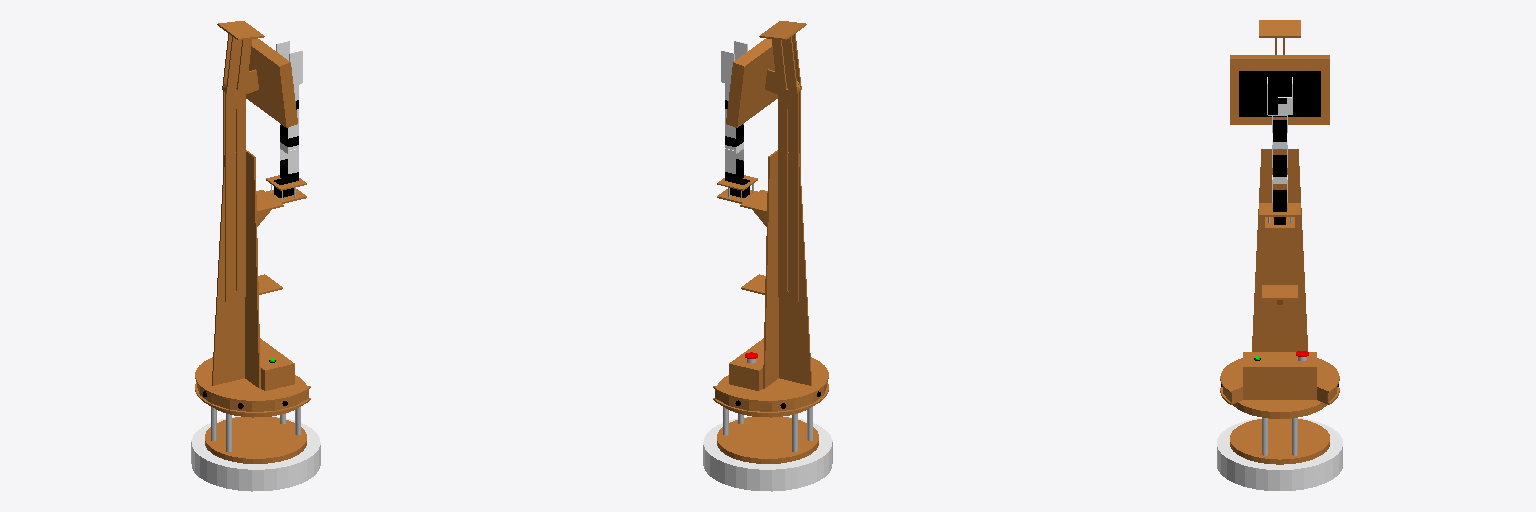
--- What the picture shows (computed from the rendered views, not written in the file) ---
Views: 3 orthographic renders of the robot side by side, from view 1: azimuth 30°, elevation 25°; view 2: azimuth 150°, elevation 25°; view 3: azimuth 270°, elevation 25°.
Robot: MYRAbot — 78 links, 77 joints (5 revolute, 2 continuous, 70 fixed); root link base_footprint; default pose: all joints at 0.
Visible links, largest first — view 1: e_pilar_link, base_link, e_soporte_1_link, e_base_1_link, e_ultrasonidos_link, e_monitor_link, e_soporte_3_link, e_botonera_link, e_base_brazo_1_link; view 2: e_pilar_link, base_link, e_soporte_1_link, e_base_1_link, e_ultrasonidos_link, e_monitor_link, e_soporte_3_link, e_botonera_link, e_base_brazo_1_link; view 3: e_pilar_link, base_link, e_botonera_link, e_base_1_link, e_pantalla_link, e_monitor_link, e_ultrasonidos_link, e_base_2_link, e_soporte_3_link, e_base_kinect_link.
Boxes of the visible links, x1=… form: e_pilar_link: x1=212, y1=150, x2=260, y2=388; base_link: x1=191, y1=416, x2=320, y2=491; e_soporte_1_link: x1=223, y1=78, x2=245, y2=301; e_base_1_link: x1=205, y1=417, x2=306, y2=463; e_ultrasonidos_link: x1=195, y1=357, x2=310, y2=414; e_monitor_link: x1=246, y1=38, x2=297, y2=127; e_soporte_3_link: x1=217, y1=21, x2=264, y2=99; e_botonera_link: x1=260, y1=338, x2=294, y2=390; e_base_brazo_1_link: x1=256, y1=189, x2=306, y2=226; e_pilar_link: x1=763, y1=150, x2=811, y2=388; base_link: x1=703, y1=416, x2=832, y2=491; e_soporte_1_link: x1=778, y1=78, x2=800, y2=301; e_base_1_link: x1=717, y1=417, x2=818, y2=463; e_ultrasonidos_link: x1=713, y1=357, x2=828, y2=414; e_monitor_link: x1=726, y1=38, x2=777, y2=127; e_soporte_3_link: x1=759, y1=21, x2=806, y2=99; e_botonera_link: x1=729, y1=338, x2=763, y2=390; e_base_brazo_1_link: x1=717, y1=189, x2=767, y2=226; e_pilar_link: x1=1252, y1=149, x2=1307, y2=351; base_link: x1=1217, y1=418, x2=1342, y2=490; e_botonera_link: x1=1243, y1=352, x2=1316, y2=399; e_base_1_link: x1=1230, y1=418, x2=1329, y2=464; e_pantalla_link: x1=1239, y1=71, x2=1320, y2=116; e_monitor_link: x1=1230, y1=55, x2=1329, y2=124; e_ultrasonidos_link: x1=1220, y1=358, x2=1339, y2=404; e_base_2_link: x1=1232, y1=400, x2=1327, y2=418; e_soporte_3_link: x1=1259, y1=20, x2=1300, y2=54; e_base_kinect_link: x1=1262, y1=285, x2=1297, y2=304.
Bounding box of the posed robot: 0.34 × 0.34 × 1.29 m (x, y, z).
Meshes: 11 distinct files referenced, 9 mesh visuals loaded (9 binary STL); not drawn: 2 (reference not matched to a file when rendering).

The robot description file, URDF, robot "MYRAbot":
<?xml version="1.0" ?>
<!-- =================================================================================== -->
<!-- |    This document was autogenerated by xacro from myrabot.urdf.xacro             | -->
<!-- |    EDITING THIS FILE BY HAND IS NOT RECOMMENDED                                 | -->
<!-- =================================================================================== -->
<robot name="MYRAbot" xmlns:body="http://playerstage.sourceforge.net/gazebo/xmlschema/#body" xmlns:controller="http://playerstage.sourceforge.net/gazebo/xmlschema/#controller" xmlns:gazebo="http://playerstage.sourceforge.net/gazebo/xmlschema/#gz" xmlns:geom="http://playerstage.sourceforge.net/gazebo/xmlschema/#geom" xmlns:interface="http://playerstage.sourceforge.net/gazebo/xmlschema/#interface" xmlns:joint="http://playerstage.sourceforge.net/gazebo/xmlschema/#joint" xmlns:model="http://playerstage.sourceforge.net/gazebo/xmlschema/#model" xmlns:physics="http://playerstage.sourceforge.net/gazebo/xmlschema/#physics" xmlns:renderable="http://playerstage.sourceforge.net/gazebo/xmlschema/#renderable" xmlns:rendering="http://playerstage.sourceforge.net/gazebo/xmlschema/#rendering" xmlns:sensor="http://playerstage.sourceforge.net/gazebo/xmlschema/#sensor" xmlns:xacro="http://ros.org/wiki/xacro" xmlns:xi="http://www.w3.org/2001/XInclude">
  <!-- Propiedades estructura -->
  <!-- Propiedades estructura -->
  <!-- 3.14 para cambiar orientacion camara -->
  <!-- 0.0 para colocar perpendicular a soporte -->
  <!-- 0.0 para colocar en el centro del soporte -->
  <gazebo>
    <plugin filename="libgazebo_ros_control.so" name="gazebo_ros_control">
      <robotNamespace>/brazo</robotNamespace>
    </plugin>
  </gazebo>
  <transmission name="base_trans">
    <type>transmission_interface/SimpleTransmission</type>
    <joint name="base"/>
    <actuator name="base_motor">
      <hardwareInterface>PositionJointInterface</hardwareInterface>
      <mechanicalReduction>1</mechanicalReduction>
    </actuator>
  </transmission>
  <transmission name="arti1_trans">
    <type>transmission_interface/SimpleTransmission</type>
    <joint name="arti1"/>
    <actuator name="arti1_motor">
      <hardwareInterface>PositionJointInterface</hardwareInterface>
      <mechanicalReduction>1</mechanicalReduction>
    </actuator>
  </transmission>
  <transmission name="arti2_trans">
    <type>transmission_interface/SimpleTransmission</type>
    <joint name="arti2"/>
    <actuator name="arti3_motor">
      <hardwareInterface>PositionJointInterface</hardwareInterface>
      <mechanicalReduction>1</mechanicalReduction>
    </actuator>
  </transmission>
  <transmission name="arti3_trans">
    <type>transmission_interface/SimpleTransmission</type>
    <joint name="arti3"/>
    <actuator name="arti3_motor">
      <hardwareInterface>PositionJointInterface</hardwareInterface>
      <mechanicalReduction>1</mechanicalReduction>
    </actuator>
  </transmission>
  <transmission name="pinza_trans">
    <type>transmission_interface/SimpleTransmission</type>
    <joint name="pinza"/>
    <actuator name="pinza_motor">
      <hardwareInterface>PositionJointInterface</hardwareInterface>
      <mechanicalReduction>1</mechanicalReduction>
    </actuator>
  </transmission>
  <!--xacro:include filename="$(find myrabot_robot_model_b)/urdf/webcam.xacro" /-->
  <link name="base_footprint">
    <inertial>
      <mass value="0.0001"/>
      <origin xyz="0 0 0"/>
      <inertia ixx="0.0001" ixy="0.0" ixz="0.0" iyy="0.0001" iyz="0.0" izz="0.0001"/>
    </inertial>
    <visual>
      <origin rpy="0 0 0" xyz="0 0 0"/>
      <geometry>
        <box size="0.001 0.001 0.001"/>
      </geometry>
      <material name="Green">
        <color rgba="0.0 0.8 0.0 1.0"/>
      </material>
    </visual>
    <collision>
      <origin rpy="0 0 0" xyz="0 0 0.017"/>
      <geometry>
        <box size="0.001 0.001 0.001"/>
      </geometry>
    </collision>
  </link>
  <link name="base_link">
    <inertial>
      <mass value="3.6"/>
      <origin xyz="0 0 0.0315"/>
      <inertia ixx="1" ixy="0.0" ixz="0.0" iyy="1" iyz="0.0" izz="1"/>
    </inertial>
    <visual>
      <origin rpy="0 0 0" xyz=" 0 0 0.0315"/>
      <geometry>
        <cylinder length="0.063" radius="0.17"/>
      </geometry>
      <material name="white">
        <color rgba="1 1 1 1"/>
      </material>
    </visual>
    <collision>
      <origin rpy="0 0 0" xyz="0.0 0.0 0.0315"/>
      <geometry>
        <cylinder length="0.063" radius="0.17"/>
      </geometry>
    </collision>
  </link>
  <link name="wall_sensor_link">
    <inertial>
      <mass value="0.01"/>
      <origin xyz="0 0 0"/>
      <inertia ixx="0.001" ixy="0.0" ixz="0.0" iyy="0.001" iyz="0.0" izz="0.001"/>
    </inertial>
  </link>
  <link name="left_cliff_sensor_link">
    <inertial>
      <mass value="0.01"/>
      <origin xyz="0 0 0"/>
      <inertia ixx="0.001" ixy="0.0" ixz="0.0" iyy="0.001" iyz="0.0" izz="0.001"/>
    </inertial>
  </link>
  <link name="right_cliff_sensor_link">
    <inertial>
      <mass value="0.01"/>
      <origin xyz="0 0 0"/>
      <inertia ixx="0.001" ixy="0.0" ixz="0.0" iyy="0.001" iyz="0.0" izz="0.001"/>
    </inertial>
  </link>
  <link name="leftfront_cliff_sensor_link">
    <inertial>
      <mass value="0.01"/>
      <origin xyz="0 0 0"/>
      <inertia ixx="1.0" ixy="0.0" ixz="0.0" iyy="0.01" iyz="0.0" izz="0.01"/>
    </inertial>
  </link>
  <link name="rightfront_cliff_sensor_link">
    <inertial>
      <mass value="0.01"/>
      <origin xyz="0 0 0"/>
      <inertia ixx="0.001" ixy="0.0" ixz="0.0" iyy="0.001" iyz="0.0" izz="0.001"/>
    </inertial>
  </link>
  <joint name="base_footprint_joint" type="fixed">
    <origin rpy="0 0 0" xyz="0 0 0.017"/>
    <parent link="base_footprint"/>
    <child link="base_link"/>
  </joint>
  <joint name="base_wall_sensor_joint" type="fixed">
    <origin rpy="0 0 -1.0" xyz="0.09 -0.120 0.042"/>
    <parent link="base_link"/>
    <child link="wall_sensor_link"/>
  </joint>
  <joint name="base_left_cliff_sensor_joint" type="fixed">
    <origin rpy="0 1.57079 0" xyz="0.07 0.14 0.01"/>
    <parent link="base_link"/>
    <child link="left_cliff_sensor_link"/>
  </joint>
  <joint name="base_right_cliff_sensor_joint" type="fixed">
    <origin rpy="0 1.57079 0" xyz="0.07 -0.14 0.01"/>
    <parent link="base_link"/>
    <child link="right_cliff_sensor_link"/>
  </joint>
  <joint name="base_leftfront_cliff_sensor_joint" type="fixed">
    <origin rpy="0 1.57079 0" xyz="0.15 0.04 0.01"/>
    <parent link="base_link"/>
    <child link="leftfront_cliff_sensor_link"/>
  </joint>
  <joint name="base_rightfront_cliff_sensor_joint" type="fixed">
    <origin rpy="0 1.57079 0" xyz="0.15 -0.04 0.01"/>
    <parent link="base_link"/>
    <child link="rightfront_cliff_sensor_link"/>
  </joint>
  <link name="left_wheel_link">
    <inertial>
      <origin xyz="0 0 0"/>
      <mass value="0.01"/>
      <inertia ixx="0.001" ixy="0.0" ixz="0.0" iyy="0.001" iyz="0.0" izz="0.001"/>
    </inertial>
    <visual>
      <origin rpy="0 1.5707 1.5707" xyz="0 0 0"/>
      <geometry>
        <cylinder length="0.023" radius="0.035"/>
      </geometry>
    </visual>
    <collision>
      <origin rpy="0 1.5707 1.5707" xyz="0 0 0"/>
      <geometry>
        <cylinder length="0.023" radius="0.035"/>
      </geometry>
    </collision>
  </link>
  <joint name="left_wheel_joint" type="continuous">
    <origin rpy="0 0 0" xyz="0 0.115 0.017"/>
    <parent link="base_link"/>
    <child link="left_wheel_link"/>
    <axis xyz="0 1 0"/>
  </joint>
  <link name="right_wheel_link">
    <inertial>
      <origin xyz="0 0 0"/>
      <mass value="0.01"/>
      <inertia ixx="0.001" ixy="0.0" ixz="0.0" iyy="0.001" iyz="0.0" izz="0.001"/>
    </inertial>
    <visual>
      <origin rpy="0 1.5707 1.5707" xyz="0 0 0"/>
      <geometry>
        <cylinder length="0.023" radius="0.035"/>
      </geometry>
    </visual>
    <collision>
      <origin rpy="0 1.5707 1.5707" xyz="0 0 0"/>
      <geometry>
        <cylinder length="0.023" radius="0.035"/>
      </geometry>
    </collision>
  </link>
  <joint name="right_wheel_joint" type="continuous">
    <origin rpy="0 0 0" xyz="0 -0.115 0.017"/>
    <parent link="base_link"/>
    <child link="right_wheel_link"/>
    <axis xyz="0 1 0"/>
  </joint>
  <link name="rear_wheel_link">
    <inertial>
      <origin xyz="0 0 0"/>
      <mass value="0.001"/>
      <inertia ixx="0.0001" ixy="0.0" ixz="0.0" iyy="0.0001" iyz="0.0" izz="0.0001"/>
    </inertial>
    <visual>
      <origin rpy="0 1.5707 1.5707" xyz="0 0 0"/>
      <geometry>
        <sphere radius="0.017"/>
      </geometry>
    </visual>
    <collision>
      <origin rpy="0 1.5707 1.5707" xyz="0 0 0"/>
      <geometry>
        <sphere radius="0.017"/>
      </geometry>
    </collision>
  </link>
  <joint name="rear_castor_joint" type="fixed">
    <origin rpy="0 0 0" xyz="-0.13 0 0.0"/>
    <parent link="base_link"/>
    <child link="rear_wheel_link"/>
    <axis xyz="0 1 0"/>
  </joint>
  <link name="front_wheel_link">
    <inertial>
      <origin xyz="0 0 0"/>
      <mass value="0.01"/>
      <inertia ixx="0.001" ixy="0.0" ixz="0.0" iyy="0.001" iyz="0.0" izz="0.001"/>
    </inertial>
    <visual>
      <origin rpy="0 1.5707 1.5707" xyz="0 0 0"/>
      <geometry>
        <sphere radius="0.017"/>
      </geometry>
    </visual>
    <collision>
      <origin rpy="0 1.5707 1.5707" xyz="0 0 0"/>
      <geometry>
        <sphere radius="0.017"/>
      </geometry>
    </collision>
  </link>
  <joint name="front_castor_joint" type="fixed">
    <origin rpy="0 0 0" xyz="0.13 0 0.0"/>
    <parent link="base_link"/>
    <child link="front_wheel_link"/>
    <axis xyz="0 1 0"/>
  </joint>
  <joint name="gyro_joint" type="fixed">
    <axis xyz="0 1 0"/>
    <origin rpy="0 0 0" xyz="0 0 0.04"/>
    <parent link="base_link"/>
    <child link="gyro_link"/>
  </joint>
  <link name="gyro_link">
    <inertial>
      <mass value="0.001"/>
      <origin rpy="0 0 0" xyz="0 0 0"/>
      <inertia ixx="0.0001" ixy="0" ixz="0" iyy="0.000001" iyz="0" izz="0.0001"/>
    </inertial>
  </link>
  <joint name="laser_joint" type="fixed">
    <origin rpy="0 0 0" xyz="0.065 0 0.57"/>
    <parent link="base_link"/>
    <child link="laser"/>
  </joint>
  <link name="laser">
    <!--visual>
      <geometry>
        <box size="0.02 0.035 0.002" />
      </geometry>
      <material name="Green" />
    </visual>
    <inertial>
      <mass value="0.001" />
      <origin xyz="0 0 0" />
      <inertia ixx="0.0001" ixy="0.0" ixz="0.0"
        iyy="0.0001" iyz="0.0"
        izz="0.0001" />
    </inertial-->
  </link>
  <gaezebo reference="base_link">
    <material>myrabot_fer/White</material>
  </gaezebo>
  <gazebo>
    <plugin filename="libgazebo_ros_imu.so" name="imu_controller">
      <alwaysOn>true</alwaysOn>
      <updateRate>30</updateRate>
      <bodyName>gyro_link</bodyName>
      <topicName>imu/data</topicName>
      <serviceName>imu/is_calibrated</serviceName>
      <gaussianNoise>2.89e-06</gaussianNoise>
      <xyzOffsets>0 0 0</xyzOffsets>
      <rpyOffsets>0 0 0</rpyOffsets>
    </plugin>
  </gazebo>
  <gazebo reference="laser">
    <sensor name="kinect_laser" type="ray">
      <pose>0 0 0 0 0 0</pose>
      <visualize>false</visualize>
      <update_rate>40</update_rate>
      <ray>
        <scan>
          <horizontal>
            <samples>180</samples>
            <resolution>1</resolution>
            <min_angle>-0.5236</min_angle>
            <max_angle>0.5236</max_angle>
          </horizontal>
        </scan>
        <range>
          <min>0.10</min>
          <max>8.0</max>
          <resolution>0.01</resolution>
        </range>
        <noise>
          <type>gaussian</type>
          <!-- Noise parameters based on published spec for Hokuyo laser
               achieving "+-30mm" accuracy at range < 10m.  A mean of 0.0m and
               stddev of 0.01m will put 99.7% of samples within 0.03m of the true
               reading. -->
          <mean>0.0</mean>
          <stddev>0.01</stddev>
        </noise>
      </ray>
      <plugin filename="libgazebo_ros_laser.so" name="kinect_laser_controller">
        <topicName>/scan</topicName>
        <frameName>laser</frameName>
      </plugin>
    </sensor>
  </gazebo>
  <gazebo>
    <plugin filename="libgazebo_ros_create.so" name="roomba_controller">
      <alwaysOn>true</alwaysOn>
      <node_namespace>myrabot_node</node_namespace>
      <left_wheel_joint>left_wheel_joint</left_wheel_joint>
      <right_wheel_joint>right_wheel_joint</right_wheel_joint>
      <front_castor_joint>front_castor_joint</front_castor_joint>
      <rear_castor_joint>rear_castor_joint</rear_castor_joint>
      <wheel_separation>.230</wheel_separation>
      <wheel_diameter>0.07</wheel_diameter>
      <base_geom>base_footprint_collision_base_link</base_geom>
      <updateRate>40</updateRate>
      <torque>10.0</torque>
    </plugin>
  </gazebo>
  <gazebo reference="left_wheel_link">
    <mu1 value="100"/>
    <mu2 value="100"/>
    <kp value="100000000.0"/>
    <kd value="10000.0"/>
    <!--fdir1 value="0.1 0 0"/-->
  </gazebo>
  <gazebo reference="right_wheel_link">
    <mu1 value="100"/>
    <mu2 value="100"/>
    <kp value="100000000.0"/>
    <kd value="10000.0"/>
    <!--fdir1 value="0.1 0 0"/-->
  </gazebo>
  <gazebo reference="rear_wheel_link">
    <mu1 value="0"/>
    <mu2 value="0"/>
    <kp value="100000000.0"/>
    <kd value="10000.0"/>
  </gazebo>
  <gazebo reference="front_wheel_link">
    <mu1 value="0"/>
    <mu2 value="0"/>
    <kp value="100000000.0"/>
    <kd value="10000.0"/>
  </gazebo>
  <gazebo reference="wall_sensor_link">
    <sensor name="wall_sensor" type="ray">
      <always_on>true</always_on>
      <update_rate>20.0</update_rate>
      <pose>0 0 0 0 0 0</pose>
      <visualize>false</visualize>
      <ray>
        <scan>
          <horizontal>
            <samples>1</samples>
            <resolution>1</resolution>
            <min_angle>0</min_angle>
            <max_angle>0</max_angle>
          </horizontal>
        </scan>
        <range>
          <min>0.0160</min>
          <max>0.04</max>
          <resolution>0.1</resolution>
        </range>
      </ray>
    </sensor>
  </gazebo>
  <gazebo reference="left_cliff_sensor_link">
    <sensor name="left_cliff_sensor" type="ray">
      <always_on>true</always_on>
      <update_rate>20.0</update_rate>
      <pose>0 0 0 0 0 0</pose>
      <visualize>false</visualize>
      <ray>
        <scan>
          <horizontal>
            <samples>1</samples>
            <resolution>1</resolution>
            <min_angle>0</min_angle>
            <max_angle>0</max_angle>
          </horizontal>
        </scan>
        <range>
          <min>0.01</min>
          <max>0.04</max>
          <resolution>0.1</resolution>
        </range>
      </ray>
    </sensor>
  </gazebo>
  <gazebo reference="right_cliff_sensor_link">
    <sensor name="right_cliff_sensor" type="ray">
      <always_on>true</always_on>
      <update_rate>20.0</update_rate>
      <pose>0 0 0 0 0 0</pose>
      <visualize>false</visualize>
      <ray>
        <scan>
          <horizontal>
            <samples>1</samples>
            <resolution>1</resolution>
            <min_angle>0</min_angle>
            <max_angle>0</max_angle>
          </horizontal>
        </scan>
        <range>
          <min>0.01</min>
          <max>0.04</max>
          <resolution>0.1</resolution>
        </range>
      </ray>
    </sensor>
  </gazebo>
  <gazebo reference="leftfront_cliff_sensor_link">
    <sensor name="leftfront_cliff_sensor" type="ray">
      <always_on>true</always_on>
      <update_rate>20.0</update_rate>
      <pose>0 0 0 0 0 0</pose>
      <visualize>false</visualize>
      <ray>
        <scan>
          <horizontal>
            <samples>1</samples>
            <resolution>1</resolution>
            <min_angle>0</min_angle>
            <max_angle>0</max_angle>
          </horizontal>
        </scan>
        <range>
          <min>0.01</min>
          <max>0.04</max>
          <resolution>0.1</resolution>
        </range>
      </ray>
    </sensor>
  </gazebo>
  <gazebo reference="rightfront_cliff_sensor_link">
    <sensor name="rightfront_cliff_sensor" type="ray">
      <always_on>true</always_on>
      <update_rate>20.0</update_rate>
      <pose>0 0 0 0 0 0</pose>
      <visualize>false</visualize>
      <ray>
        <scan>
          <horizontal>
            <samples>1</samples>
            <resolution>1</resolution>
            <min_angle>0</min_angle>
            <max_angle>0</max_angle>
          </horizontal>
        </scan>
        <range>
          <min>0.01</min>
          <max>0.04</max>
          <resolution>0.1</resolution>
        </range>
      </ray>
    </sensor>
  </gazebo>
  <joint name="world_joint" type="fixed">
    <parent link="base_link"/>
    <child link="e_base_1_link"/>
    <origin rpy="0 0 1.57" xyz="0 0 0.063"/>
  </joint>
  <link name="e_base_1_link">
    <inertial>
      <mass value="0.08"/>
      <origin rpy="0 0 0" xyz="0.0 0.0 0.0075"/>
      <inertia ixx="0.05" ixy="0.0" ixz="0.0" iyy="0.05" iyz="0.0" izz="0.05"/>
    </inertial>
    <visual>
      <origin rpy="0 0 0" xyz="0.0 0.0 0.0075"/>
      <geometry>
        <cylinder length="0.015" radius="0.135"/>
      </geometry>
      <material name="wood">
        <color rgba="0.803921568627 0.521568627451 0.247058823529 1"/>
      </material>
    </visual>
    <collision>
      <origin rpy="0 0 0" xyz="0.0 0.0 0.0075"/>
      <geometry>
        <cylinder length="0.015" radius="0.135"/>
      </geometry>
    </collision>
  </link>
  <joint name="separador_base_1" type="fixed">
    <parent link="e_base_1_link"/>
    <child link="e_separador_base_1_link"/>
    <origin rpy="0 0 0" xyz="0.0 0.0 0.015"/>
  </joint>
  <link name="e_separador_base_1_link">
    <inertial>
      <mass value="0.04"/>
      <origin rpy="0 0 0" xyz="0.04 0.105 0.06"/>
      <inertia ixx="0.05" ixy="0.0" ixz="0.0" iyy="0.05" iyz="0.0" izz="0.05"/>
    </inertial>
    <visual>
      <origin rpy="0 0 0" xyz="0.04 0.105 0.06"/>
      <geometry>
        <cylinder length="0.120" radius="0.0075"/>
      </geometry>
      <material name="metal">
        <color rgba="0.827450980392 0.827450980392 0.827450980392 1"/>
      </material>
    </visual>
    <collision>
      <origin rpy="0 0 0" xyz="0.04 0.105 0.06"/>
      <geometry>
        <cylinder length="0.120" radius="0.0075"/>
      </geometry>
    </collision>
  </link>
  <joint name="separador_base_2" type="fixed">
    <parent link="e_base_1_link"/>
    <child link="e_separador_base_2_link"/>
    <origin rpy="0 0 0" xyz="0.0 0.0 0.015"/>
  </joint>
  <link name="e_separador_base_2_link">
    <inertial>
      <mass value="0.04"/>
      <origin rpy="0 0 0" xyz="0.04 -0.105 0.06"/>
      <inertia ixx="0.05" ixy="0.0" ixz="0.0" iyy="0.05" iyz="0.0" izz="0.05"/>
    </inertial>
    <visual>
      <origin rpy="0 0 0" xyz="0.04 -0.105 0.06"/>
      <geometry>
        <cylinder length="0.120" radius="0.0075"/>
      </geometry>
      <material name="metal">
        <color rgba="0.827450980392 0.827450980392 0.827450980392 1"/>
      </material>
    </visual>
    <collision>
      <origin rpy="0 0 0" xyz="0.04 -0.105 0.06"/>
      <geometry>
        <cylinder length="0.120" radius="0.0075"/>
      </geometry>
    </collision>
  </link>
  <joint name="separador_base_3" type="fixed">
    <parent link="e_base_1_link"/>
    <child link="e_separador_base_3_link"/>
    <origin rpy="0 0 0" xyz="0.0 0.0 0.015"/>
  </joint>
  <link name="e_separador_base_3_link">
    <inertial>
      <mass value="0.04"/>
      <origin rpy="0 0 0" xyz="-0.04 -0.105 0.06"/>
      <inertia ixx="0.05" ixy="0.0" ixz="0.0" iyy="0.05" iyz="0.0" izz="0.05"/>
    </inertial>
    <visual>
      <origin rpy="0 0 0" xyz="-0.04 -0.105 0.06"/>
      <geometry>
        <cylinder length="0.120" radius="0.0075"/>
      </geometry>
      <material name="metal">
        <color rgba="0.827450980392 0.827450980392 0.827450980392 1"/>
      </material>
    </visual>
    <collision>
      <origin rpy="0 0 0" xyz="-0.04 -0.105 0.06"/>
      <geometry>
        <cylinder length="0.120" radius="0.0075"/>
      </geometry>
    </collision>
  </link>
  <joint name="separador_base_4" type="fixed">
    <parent link="e_base_1_link"/>
    <child link="e_separador_base_4_link"/>
    <origin rpy="0 0 0" xyz="0.0 0.0 0.015"/>
  </joint>
  <link name="e_separador_base_4_link">
    <inertial>
      <mass value="0.04"/>
      <origin rpy="0 0 0" xyz="-0.04 0.105 0.06"/>
      <inertia ixx="0.05" ixy="0.0" ixz="0.0" iyy="0.05" iyz="0.0" izz="0.05"/>
    </inertial>
    <visual>
      <origin rpy="0 0 0" xyz="-0.04 0.105 0.06"/>
      <geometry>
        <cylinder length="0.120" radius="0.0075"/>
      </geometry>
      <material name="metal">
        <color rgba="0.827450980392 0.827450980392 0.827450980392 1"/>
      </material>
    </visual>
    <collision>
      <origin rpy="0 0 0" xyz="-0.04 0.105 0.06"/>
      <geometry>
        <cylinder length="0.120" radius="0.0075"/>
      </geometry>
    </collision>
  </link>
  <joint name="base_2" type="fixed">
    <parent link="e_base_1_link"/>
    <child link="e_base_2_link"/>
    <origin rpy="0 0 0" xyz="0 0 0.135"/>
  </joint>
  <link name="e_base_2_link">
    <inertial>
      <mass value="0.08"/>
      <origin rpy="0 0 0" xyz="0.0 0.0 0.01"/>
      <inertia ixx="0.05" ixy="0.0" ixz="0.0" iyy="0.05" iyz="0.0" izz="0.05"/>
    </inertial>
    <visual>
      <origin rpy="0 0 0" xyz="0.0 0.0 0.01"/>
      <geometry>
        <cylinder length="0.02" radius="0.135"/>
      </geometry>
      <material name="wood">
        <color rgba="0.803921568627 0.521568627451 0.247058823529 1"/>
      </material>
    </visual>
    <collision>
      <origin rpy="0 0 0" xyz="0.0 0.0 0.01"/>
      <geometry>
        <cylinder length="0.02" radius="0.135"/>
      </geometry>
    </collision>
  </link>
  <joint name="pilar" type="fixed">
    <parent link="e_base_2_link"/>
    <child link="e_pilar_link"/>
    <origin rpy="0 0 0" xyz="0 0 0.02"/>
  </joint>
  <link name="e_pilar_link">
    <inertial>
      <mass value="0.08"/>
      <origin rpy="0 0 0" xyz="0.0 0.5 0.35"/>
      <inertia ixx="0.05" ixy="0.0" ixz="0.0" iyy="0.05" iyz="0.0" izz="0.05"/>
    </inertial>
    <visual>
      <origin rpy="0 0 0" xyz="-0.135 -0.135 0"/>
      <geometry>
        <mesh filename="package://myrabot_robot_model_b/meshes/e_pilar.stl" scale="0.001 0.001 0.001"/>
      </geometry>
      <material name="wood"/>
    </visual>
    <collision>
      <origin rpy="0 0 0" xyz="-0.135 -0.135 0"/>
      <geometry>
        <mesh filename="package://myrabot_robot_model_b/meshes/e_pilar.stl" scale="0.001 0.001 0.001"/>
      </geometry>
    </collision>
  </link>
  <joint name="ultrasonidos" type="fixed">
    <parent link="e_base_2_link"/>
    <child link="e_ultrasonidos_link"/>
    <origin rpy="0 0 0" xyz="0 0 0.02"/>
  </joint>
  <link name="e_ultrasonidos_link">
    <inertial>
      <mass value="0.04"/>
      <origin rpy="0 0 0" xyz="0.0 0.0 0.02"/>
      <inertia ixx="0.05" ixy="0.0" ixz="0.0" iyy="0.05" iyz="0.0" izz="0.05"/>
    </inertial>
    <visual>
      <origin rpy="0 0 0" xyz="-0.160 -0.135 0"/>
      <geometry>
        <mesh filename="package://myrabot_robot_model_b/meshes/e_ultrasonidos.stl" scale="0.001 0.001 0.001"/>
      </geometry>
      <material name="wood"/>
    </visual>
    <collision>
      <origin rpy="0 0 0" xyz="-0.160 -0.135 0"/>
      <geometry>
        <mesh filename="package://myrabot_robot_model_b/meshes/e_ultrasonidos.stl" scale="0.001 0.001 0.001"/>
      </geometry>
    </collision>
  </link>
  <joint name="botonera" type="fixed">
    <parent link="e_base_2_link"/>
    <child link="e_botonera_link"/>
    <origin rpy="0 0 0" xyz="0 0 0.02"/>
  </joint>
  <link name="e_botonera_link">
    <inertial>
      <mass value="0.06"/>
      <origin rpy="0 0 0" xyz="0.0 -0.015 0.05"/>
      <inertia ixx="0.05" ixy="0.0" ixz="0.0" iyy="0.05" iyz="0.0" izz="0.05"/>
    </inertial>
    <visual>
      <origin rpy="0 0 0" xyz="0.0 -0.015 0.05"/>
      <geometry>
        <box size="0.2 0.09 0.1"/>
      </geometry>
      <material name="wood"/>
    </visual>
    <collision>
      <origin rpy="0 0 0" xyz="0.0 -0.015 0.05"/>
      <geometry>
        <box size="0.2 0.09 0.1"/>
      </geometry>
    </collision>
  </link>
  <joint name="start_button_1" type="fixed">
    <parent link="e_botonera_link"/>
    <child link="e_start_button_1_link"/>
    <origin rpy="0 0 0" xyz="-0.06 0 0.1"/>
  </joint>
  <link name="e_start_button_1_link">
    <inertial>
      <mass value="0.001"/>
      <origin rpy="0 0 0" xyz="0.0 -0.015 0.001"/>
      <inertia ixx="0.05" ixy="0.0" ixz="0.0" iyy="0.05" iyz="0.0" izz="0.05"/>
    </inertial>
    <visual>
      <origin rpy="0 0 0" xyz="0.0 -0.015 0.001"/>
      <geometry>
        <cylinder length="0.002" radius="0.009"/>
      </geometry>
      <material name="black">
        <color rgba="0 0 0 1"/>
      </material>
    </visual>
    <collision>
      <origin rpy="0 0 0" xyz="0.0 -0.015 0.001"/>
      <geometry>
        <cylinder length="0.002" radius="0.009"/>
      </geometry>
    </collision>
  </link>
  <joint name="start_button_2" type="fixed">
    <parent link="e_start_button_1_link"/>
    <child link="e_start_button_2_link"/>
    <origin rpy="0 0 0" xyz="0.0 0 0.002"/>
  </joint>
  <link name="e_start_button_2_link">
    <inertial>
      <mass value="0.001"/>
      <origin rpy="0 0 0" xyz="0.0 -0.015 0.002"/>
      <inertia ixx="0.05" ixy="0.0" ixz="0.0" iyy="0.05" iyz="0.0" izz="0.05"/>
    </inertial>
    <visual>
      <origin rpy="0 0 0" xyz="0.0 -0.015 0.002"/>
      <geometry>
        <cylinder length="0.004" radius="0.0075"/>
      </geometry>
      <material name="green">
        <color rgba="0 1 0 1"/>
      </material>
    </visual>
    <collision>
      <origin rpy="0 0 0" xyz="0.0 -0.015 0.002"/>
      <geometry>
        <cylinder length="0.004" radius="0.0075"/>
      </geometry>
    </collision>
  </link>
  <joint name="emergency_button_1" type="fixed">
    <parent link="e_botonera_link"/>
    <child link="e_emergency_button_1_link"/>
    <origin rpy="0 0 0" xyz="0.06 0 0.1"/>
  </joint>
  <link name="e_emergency_button_1_link">
    <inertial>
      <mass value="0.001"/>
      <origin rpy="0 0 0" xyz="0.0 -0.015 0.0075"/>
      <inertia ixx="0.05" ixy="0.0" ixz="0.0" iyy="0.05" iyz="0.0" izz="0.05"/>
    </inertial>
    <visual>
      <origin rpy="0 0 0" xyz="0.0 -0.015 0.0075"/>
      <geometry>
        <cylinder length="0.015" radius="0.0125"/>
      </geometry>
      <material name="metal"/>
    </visual>
    <collision>
      <origin rpy="0 0 0" xyz="0.0 -0.015 0.0075"/>
      <geometry>
        <cylinder length="0.015" radius="0.0125"/>
      </geometry>
    </collision>
  </link>
  <joint name="emergency_button_2" type="fixed">
    <parent link="e_emergency_button_1_link"/>
    <child link="e_emergency_button_2_link"/>
    <origin rpy="0 0 0" xyz="0.0 0 0.015"/>
  </joint>
  <link name="e_emergency_button_2_link">
    <inertial>
      <mass value="0.001"/>
      <origin rpy="0 0 0" xyz="0.0 -0.015 0.0015"/>
      <inertia ixx="0.05" ixy="0.0" ixz="0.0" iyy="0.05" iyz="0.0" izz="0.05"/>
    </inertial>
    <visual>
      <origin rpy="0 0 0" xyz="0.0 -0.015 0.0015"/>
      <geometry>
        <cylinder length="0.003" radius="0.018"/>
      </geometry>
      <material name="red">
        <color rgba="1 0 0 1"/>
      </material>
    </visual>
    <collision>
      <origin rpy="0 0 0" xyz="0.0 -0.015 0.0015"/>
      <geometry>
        <cylinder length="0.003" radius="0.018"/>
      </geometry>
    </collision>
  </link>
  <joint name="base_kinect" type="fixed">
    <parent link="e_pilar_link"/>
    <child link="e_base_kinect_link"/>
    <origin rpy="0 0 0" xyz="0 0 0.24"/>
  </joint>
  <link name="e_base_kinect_link">
    <inertial>
      <mass value="0.02"/>
      <origin rpy="0 0 0" xyz="0.0 0.0 0.0025"/>
      <inertia ixx="0.05" ixy="0.0" ixz="0.0" iyy="0.05" iyz="0.0" izz="0.05"/>
    </inertial>
    <visual>
      <origin rpy="0 0 0" xyz="-0.135 -0.135 0"/>
      <geometry>
        <mesh filename="package://myrabot_robot_model_b/meshes/e_base_kinect.stl" scale="0.001 0.001 0.001"/>
      </geometry>
      <material name="wood"/>
    </visual>
    <collision>
      <origin rpy="0 0 0" xyz="-0.135 -0.135 0"/>
      <geometry>
        <mesh filename="package://myrabot_robot_model_b/meshes/e_base_kinect.stl" scale="0.001 0.001 0.001"/>
      </geometry>
    </collision>
  </link>
  <joint name="base_brazo_1" type="fixed">
    <parent link="e_pilar_link"/>
    <child link="e_base_brazo_1_link"/>
    <origin rpy="0 0 0" xyz="0 0 0.468"/>
  </joint>
  <link name="e_base_brazo_1_link">
    <inertial>
      <mass value="0.03"/>
      <origin rpy="0 0 0" xyz="0.0 0.0 0.0025"/>
      <inertia ixx="0.05" ixy="0.0" ixz="0.0" iyy="0.05" iyz="0.0" izz="0.05"/>
    </inertial>
    <visual>
      <origin rpy="0 0 0" xyz="-0.135 -0.135 0"/>
      <geometry>
        <mesh filename="package://myrabot_robot_model_b/meshes/e_base_brazo_1.stl" scale="0.001 0.001 0.001"/>
      </geometry>
      <material name="wood"/>
    </visual>
    <collision>
      <origin rpy="0 0 0" xyz="-0.135 -0.135 0"/>
      <geometry>
        <mesh filename="package://myrabot_robot_model_b/meshes/e_base_brazo_1.stl" scale="0.001 0.001 0.001"/>
      </geometry>
    </collision>
  </link>
  <joint name="separador_base_brazo_1" type="fixed">
    <parent link="e_base_brazo_1_link"/>
    <child link="e_separador_base_brazo_1_link"/>
    <origin rpy="0 0 0" xyz="0.0 -0.082 0.075"/>
  </joint>
  <link name="e_separador_base_brazo_1_link">
    <inertial>
      <mass value="0.002"/>
      <origin rpy="0 0 0" xyz="0.029 0.019 0.017"/>
      <inertia ixx="0.05" ixy="0.0" ixz="0.0" iyy="0.05" iyz="0.0" izz="0.05"/>
    </inertial>
    <visual>
      <origin rpy="0 0 0" xyz="0.029 0.019 0.017"/>
      <geometry>
        <cylinder length="0.034" radius="0.002"/>
      </geometry>
      <material name="metal"/>
    </visual>
    <collision>
      <origin rpy="0 0 0" xyz="0.029 0.019 0.017"/>
      <geometry>
        <cylinder length="0.034" radius="0.002"/>
      </geometry>
    </collision>
  </link>
  <joint name="separador_base_brazo_2" type="fixed">
    <parent link="e_base_brazo_1_link"/>
    <child link="e_separador_base_brazo_2_link"/>
    <origin rpy="0 0 0" xyz="0.0 -0.082 0.075"/>
  </joint>
  <link name="e_separador_base_brazo_2_link">
    <inertial>
      <mass value="0.002"/>
      <origin rpy="0 0 0" xyz="0.029 -0.019 0.017"/>
      <inertia ixx="0.05" ixy="0.0" ixz="0.0" iyy="0.05" iyz="0.0" izz="0.05"/>
    </inertial>
    <visual>
      <origin rpy="0 0 0" xyz="0.029 -0.019 0.017"/>
      <geometry>
        <cylinder length="0.034" radius="0.002"/>
      </geometry>
      <material name="metal"/>
    </visual>
    <collision>
      <origin rpy="0 0 0" xyz="0.029 -0.019 0.017"/>
      <geometry>
        <cylinder length="0.034" radius="0.002"/>
      </geometry>
    </collision>
  </link>
  <joint name="separador_base_brazo_3" type="fixed">
    <parent link="e_base_brazo_1_link"/>
    <child link="e_separador_base_brazo_3_link"/>
    <origin rpy="0 0 0" xyz="0.0 -0.082 0.075"/>
  </joint>
  <link name="e_separador_base_brazo_3_link">
    <inertial>
      <mass value="0.002"/>
      <origin rpy="0 0 0" xyz="-0.029 -0.019 0.017"/>
      <inertia ixx="0.05" ixy="0.0" ixz="0.0" iyy="0.05" iyz="0.0" izz="0.05"/>
    </inertial>
    <visual>
      <origin rpy="0 0 0" xyz="-0.029 -0.019 0.017"/>
      <geometry>
        <cylinder length="0.034" radius="0.002"/>
      </geometry>
      <material name="metal"/>
    </visual>
    <collision>
      <origin rpy="0 0 0" xyz="-0.029 -0.019 0.017"/>
      <geometry>
        <cylinder length="0.034" radius="0.002"/>
      </geometry>
    </collision>
  </link>
  <joint name="separador_base_brazo_4" type="fixed">
    <parent link="e_base_brazo_1_link"/>
    <child link="e_separador_base_brazo_4_link"/>
    <origin rpy="0 0 0" xyz="0.0 -0.082 0.075"/>
  </joint>
  <link name="e_separador_base_brazo_4_link">
    <inertial>
      <mass value="0.002"/>
      <origin rpy="0 0 0" xyz="-0.029 0.019 0.017"/>
      <inertia ixx="0.05" ixy="0.0" ixz="0.0" iyy="0.05" iyz="0.0" izz="0.05"/>
    </inertial>
    <visual>
      <origin rpy="0 0 0" xyz="-0.029 0.019 0.017"/>
      <geometry>
        <cylinder length="0.034" radius="0.002"/>
      </geometry>
      <material name="metal"/>
    </visual>
    <collision>
      <origin rpy="0 0 0" xyz="-0.029 0.019 0.017"/>
      <geometry>
        <cylinder length="0.034" radius="0.002"/>
      </geometry>
    </collision>
  </link>
  <joint name="base_brazo_2" type="fixed">
    <parent link="e_base_brazo_1_link"/>
    <child link="e_base_brazo_2_link"/>
    <origin rpy="0 0 0" xyz="0 0 0.074"/>
  </joint>
  <link name="e_base_brazo_2_link">
    <inertial>
      <mass value="0.005"/>
      <origin rpy="0 0 0" xyz="0.0 0.0 0.0025"/>
      <inertia ixx="0.05" ixy="0.0" ixz="0.0" iyy="0.05" iyz="0.0" izz="0.05"/>
    </inertial>
    <visual>
      <origin rpy="0 0 0" xyz="-0.135 -0.135 0"/>
      <geometry>
        <mesh filename="package://myrabot_robot_model_b/meshes/e_base_brazo_2.stl" scale="0.001 0.001 0.001"/>
      </geometry>
      <material name="wood"/>
    </visual>
    <collision>
      <origin rpy="0 0 0" xyz="-0.135 -0.135 0"/>
      <geometry>
        <mesh filename="package://myrabot_robot_model_b/meshes/e_base_brazo_2.stl" scale="0.001 0.001 0.001"/>
      </geometry>
    </collision>
  </link>
  <joint name="soporte_1" type="fixed">
    <parent link="e_pilar_link"/>
    <child link="e_soporte_1_link"/>
    <origin rpy="0 0 0" xyz="0 0 0.277"/>
  </joint>
  <link name="e_soporte_1_link">
    <inertial>
      <mass value="0.05"/>
      <origin rpy="0 0 0" xyz="0.0 0.05 0.32"/>
      <inertia ixx="0.05" ixy="0.0" ixz="0.0" iyy="0.05" iyz="0.0" izz="0.05"/>
    </inertial>
    <visual>
      <origin rpy="0 0 0" xyz="-0.135 -0.135 0"/>
      <geometry>
        <mesh filename="package://myrabot_robot_model_b/meshes/e_soporte_1.stl" scale="0.001 0.001 0.001"/>
      </geometry>
      <material name="wood"/>
    </visual>
    <collision>
      <origin rpy="0 0 0" xyz="-0.135 -0.135 0"/>
      <geometry>
        <mesh filename="package://myrabot_robot_model_b/meshes/e_soporte_1.stl" scale="0.001 0.001 0.001"/>
      </geometry>
    </collision>
  </link>
  <joint name="soporte_2" type="fixed">
    <parent link="e_soporte_1_link"/>
    <child link="e_soporte_2_link"/>
    <origin rpy="-0.12 0 0" xyz="0 0.065 0.61"/>
  </joint>
  <link name="e_soporte_2_link">
    <inertial>
      <mass value="0.01"/>
      <origin rpy="0 0 0" xyz="0.0 -0.065 0.03"/>
      <inertia ixx="0.05" ixy="0.0" ixz="0.0" iyy="0.05" iyz="0.0" izz="0.05"/>
    </inertial>
    <visual>
      <origin rpy="0 0 0" xyz="-0.135 -0.2 -0.03"/>
      <geometry>
        <mesh filename="package://myrabot_robot_model_b/meshes/e_soporte_2.stl" scale="0.001 0.001 0.001"/>
      </geometry>
      <material name="wood"/>
    </visual>
    <collision>
      <origin rpy="0 0 0" xyz="-0.135 -0.2 -0.03"/>
      <geometry>
        <mesh filename="package://myrabot_robot_model_b/meshes/e_soporte_2.stl" scale="0.001 0.001 0.001"/>
      </geometry>
    </collision>
  </link>
  <joint name="soporte_3" type="fixed">
    <parent link="e_soporte_1_link"/>
    <child link="e_soporte_3_link"/>
    <origin rpy="0.12 0 0" xyz="0 0.065 0.61"/>
  </joint>
  <link name="e_soporte_3_link">
    <inertial>
      <mass value="0.01"/>
      <origin rpy="0 0 0" xyz="0.0 -0.065 0.03"/>
      <inertia ixx="0.05" ixy="0.0" ixz="0.0" iyy="0.05" iyz="0.0" izz="0.05"/>
    </inertial>
    <visual>
      <origin rpy="0 0 0" xyz="-0.135 -0.2 -0.03"/>
      <geometry>
        <mesh filename="package://myrabot_robot_model_b/meshes/e_soporte_3.stl" scale="0.001 0.001 0.001"/>
      </geometry>
      <material name="wood"/>
    </visual>
    <collision>
      <origin rpy="0 0 0" xyz="-0.135 -0.2 -0.03"/>
      <geometry>
        <mesh filename="package://myrabot_robot_model_b/meshes/e_soporte_3.stl" scale="0.001 0.001 0.001"/>
      </geometry>
    </collision>
  </link>
  <joint name="monitor" type="fixed">
    <parent link="e_soporte_2_link"/>
    <child link="e_monitor_link"/>
    <origin rpy="0 0 0" xyz="0 -0.065 -0.09"/>
  </joint>
  <link name="e_monitor_link">
    <inertial>
      <mass value="0.05"/>
      <origin rpy="0 0 0" xyz="0.0 0.0 0.09"/>
      <inertia ixx="0.05" ixy="0.0" ixz="0.0" iyy="0.05" iyz="0.0" izz="0.05"/>
    </inertial>
    <visual>
      <origin rpy="0 0 0" xyz="-0.135 -0.135 0"/>
      <geometry>
        <mesh filename="package://myrabot_robot_model_b/meshes/e_monitor.stl" scale="0.001 0.001 0.001"/>
      </geometry>
      <material name="wood"/>
    </visual>
    <collision>
      <origin rpy="0 0 0" xyz="-0.135 -0.135 0"/>
      <geometry>
        <mesh filename="package://myrabot_robot_model_b/meshes/e_monitor.stl" scale="0.001 0.001 0.001"/>
      </geometry>
    </collision>
  </link>
  <joint name="pantalla" type="fixed">
    <parent link="e_monitor_link"/>
    <child link="e_pantalla_link"/>
    <origin rpy="0 0 0" xyz="0.0 -0.0351 0.086"/>
  </joint>
  <link name="e_pantalla_link">
    <inertial>
      <mass value="0.00001"/>
      <origin rpy="0 0 0" xyz="0 0 0"/>
      <inertia ixx="0.05" ixy="0.0" ixz="0.0" iyy="0.05" iyz="0.0" izz="0.05"/>
    </inertial>
    <visual>
      <origin rpy="0 0 0" xyz="0 0 0"/>
      <geometry>
        <box size="0.22 0.0001 0.130"/>
      </geometry>
      <material name="black">
        <color rgba="0 0 0 1"/>
      </material>
    </visual>
    <collision>
      <origin rpy="0 0 0" xyz="0 0 0"/>
      <geometry>
        <box size="0.22 0.0001 0.127"/>
      </geometry>
    </collision>
  </link>
  <gazebo reference="e_base_1_link">
    <material>myrabot_fer/LightWood</material>
    <mu1>0.5</mu1>
    <mu2>0.5</mu2>
    <selfCollide>true</selfCollide>
    <turnGravityOff>false</turnGravityOff>
  </gazebo>
  <gazebo reference="e_base_2_link">
    <material>myrabot_fer/LightWood</material>
    <mu1>0.5</mu1>
    <mu2>0.5</mu2>
    <selfCollide>true</selfCollide>
    <turnGravityOff>false</turnGravityOff>
  </gazebo>
  <gazebo reference="e_separador_base_1_link">
    <material>myrabot_fer/Grey</material>
    <mu1>0.5</mu1>
    <mu2>0.5</mu2>
    <selfCollide>true</selfCollide>
    <turnGravityOff>false</turnGravityOff>
  </gazebo>
  <gazebo reference="e_separador_base_2_link">
    <material>myrabot_fer/Grey</material>
    <mu1>0.5</mu1>
    <mu2>0.5</mu2>
    <selfCollide>true</selfCollide>
    <turnGravityOff>false</turnGravityOff>
  </gazebo>
  <gazebo reference="e_separador_base_3_link">
    <material>myrabot_fer/Grey</material>
    <mu1>0.5</mu1>
    <mu2>0.5</mu2>
    <selfCollide>true</selfCollide>
    <turnGravityOff>false</turnGravityOff>
  </gazebo>
  <gazebo reference="e_separador_base_4_link">
    <material>myrabot_fer/Grey</material>
    <mu1>0.5</mu1>
    <mu2>0.5</mu2>
    <selfCollide>true</selfCollide>
    <turnGravityOff>false</turnGravityOff>
  </gazebo>
  <gazebo reference="e_separador_base_brazo_1_link">
    <material>myrabot_fer/Grey</material>
    <mu1>0.5</mu1>
    <mu2>0.5</mu2>
    <selfCollide>true</selfCollide>
    <turnGravityOff>false</turnGravityOff>
  </gazebo>
  <gazebo reference="e_separador_base_brazo_2_link">
    <material>myrabot_fer/Grey</material>
    <mu1>0.5</mu1>
    <mu2>0.5</mu2>
    <selfCollide>true</selfCollide>
    <turnGravityOff>false</turnGravityOff>
  </gazebo>
  <gazebo reference="e_separador_base_brazo_3_link">
    <material>myrabot_fer/Grey</material>
    <mu1>0.5</mu1>
    <mu2>0.5</mu2>
    <selfCollide>true</selfCollide>
    <turnGravityOff>false</turnGravityOff>
  </gazebo>
  <gazebo reference="e_separador_base_brazo_4_link">
    <material>myrabot_fer/Grey</material>
    <mu1>0.5</mu1>
    <mu2>0.5</mu2>
    <selfCollide>true</selfCollide>
    <turnGravityOff>false</turnGravityOff>
  </gazebo>
  <gazebo reference="e_ultrasonidos_link">
    <material>myrabot_fer/LightWood</material>
    <mu1>0.5</mu1>
    <mu2>0.5</mu2>
    <selfCollide>true</selfCollide>
    <turnGravityOff>false</turnGravityOff>
  </gazebo>
  <gazebo reference="e_pilar_link">
    <material>myrabot_fer/LightWood</material>
    <mu1>0.5</mu1>
    <mu2>0.5</mu2>
    <selfCollide>true</selfCollide>
    <turnGravityOff>false</turnGravityOff>
  </gazebo>
  <gazebo reference="e_base_kinect_link">
    <material>myrabot_fer/LightWood</material>
    <mu1>0.5</mu1>
    <mu2>0.5</mu2>
    <selfCollide>true</selfCollide>
    <turnGravityOff>false</turnGravityOff>
  </gazebo>
  <gazebo reference="e_base_brazo_1_link">
    <material>myrabot_fer/LightWood</material>
    <mu1>0.5</mu1>
    <mu2>0.5</mu2>
    <selfCollide>true</selfCollide>
    <turnGravityOff>false</turnGravityOff>
  </gazebo>
  <gazebo reference="e_base_brazo_2_link">
    <material>myrabot_fer/LightWood</material>
    <mu1>0.5</mu1>
    <mu2>0.5</mu2>
    <selfCollide>true</selfCollide>
    <turnGravityOff>false</turnGravityOff>
  </gazebo>
  <gazebo reference="e_botonera_link">
    <material>myrabot_fer/LightWood</material>
    <mu1>0.5</mu1>
    <mu2>0.5</mu2>
    <selfCollide>true</selfCollide>
    <turnGravityOff>false</turnGravityOff>
  </gazebo>
  <gazebo reference="e_start_button_1_link">
    <material>myrabot_fer/Black</material>
    <mu1>0.5</mu1>
    <mu2>0.5</mu2>
    <selfCollide>true</selfCollide>
    <turnGravityOff>false</turnGravityOff>
  </gazebo>
  <gazebo reference="e_start_button_2_link">
    <material>myrabot_fer/Green</material>
    <mu1>0.5</mu1>
    <mu2>0.5</mu2>
    <selfCollide>true</selfCollide>
    <turnGravityOff>false</turnGravityOff>
  </gazebo>
  <gazebo reference="e_emergency_button_1_link">
    <material>myrabot_fer/Grey</material>
    <mu1>0.5</mu1>
    <mu2>0.5</mu2>
    <selfCollide>true</selfCollide>
    <turnGravityOff>false</turnGravityOff>
  </gazebo>
  <gazebo reference="e_emergency_button_2_link">
    <material>myrabot_fer/Red</material>
    <mu1>0.5</mu1>
    <mu2>0.5</mu2>
    <selfCollide>true</selfCollide>
    <turnGravityOff>false</turnGravityOff>
  </gazebo>
  <gazebo reference="e_soporte_1_link">
    <material>myrabot_fer/LightWood</material>
    <mu1>0.5</mu1>
    <mu2>0.5</mu2>
    <selfCollide>true</selfCollide>
    <turnGravityOff>false</turnGravityOff>
  </gazebo>
  <gazebo reference="e_soporte_2_link">
    <material>myrabot_fer/LightWood</material>
    <mu1>0.5</mu1>
    <mu2>0.5</mu2>
    <selfCollide>true</selfCollide>
    <turnGravityOff>false</turnGravityOff>
  </gazebo>
  <gazebo reference="e_soporte_3_link">
    <material>myrabot_fer/LightWood</material>
    <mu1>0.5</mu1>
    <mu2>0.5</mu2>
    <selfCollide>true</selfCollide>
    <turnGravityOff>false</turnGravityOff>
  </gazebo>
  <gazebo reference="e_monitor_link">
    <material>myrabot_fer/LightWood</material>
    <mu1>0.5</mu1>
    <mu2>0.5</mu2>
    <selfCollide>true</selfCollide>
    <turnGravityOff>false</turnGravityOff>
  </gazebo>
  <gazebo reference="e_pantalla_link">
    <material>myrabot_fer/Black</material>
    <mu1>0.5</mu1>
    <mu2>0.5</mu2>
    <selfCollide>true</selfCollide>
    <turnGravityOff>false</turnGravityOff>
  </gazebo>
  <joint name="base_camera_joint" type="fixed">
    <origin rpy="0 0 -1.57" xyz="0 -0.045 0.112"/>
    <parent link="e_base_kinect_link"/>
    <child link="camera_link"/>
  </joint>
  <link name="camera_link">
    <inertial>
      <mass value="0.01"/>
      <origin xyz="0 0 0"/>
      <inertia ixx="0.001" ixy="0.0" ixz="0.0" iyy="0.001" iyz="0.0" izz="0.001"/>
    </inertial>
    <visual>
      <origin rpy="0 0 1.57" xyz="-0.02 0.0 -0.017"/>
      <geometry>
        <mesh filename="package://myrabot_robot_model_b/meshes/kinect.dae"/>
      </geometry>
    </visual>
    <collision>
      <origin rpy="0 0 1.57" xyz="-0.02 0.0 -0.017"/>
      <geometry>
        <mesh filename="package://myrabot_robot_model_b/meshes/kinect.dae"/>
      </geometry>
    </collision>
  </link>
  <joint name="camera_depth_joint" type="fixed">
    <origin rpy="0 0 0" xyz="0 0.018 0"/>
    <parent link="camera_link"/>
    <child link="camera_depth_frame"/>
  </joint>
  <link name="camera_depth_frame">
    <inertial>
      <mass value="0.01"/>
      <origin xyz="0 0 0"/>
      <inertia ixx="0.001" ixy="0.0" ixz="0.0" iyy="0.001" iyz="0.0" izz="0.001"/>
    </inertial>
  </link>
  <joint name="camera_depth_optical_joint" type="fixed">
    <origin rpy="-1.570795 0 -1.570795" xyz="0 0 0"/>
    <parent link="camera_depth_frame"/>
    <child link="camera_depth_optical_frame"/>
  </joint>
  <link name="camera_depth_optical_frame">
    <inertial>
      <mass value="0.001"/>
      <origin xyz="0 0 0"/>
      <inertia ixx="0.0001" ixy="0.0" ixz="0.0" iyy="0.0001" iyz="0.0" izz="0.0001"/>
    </inertial>
  </link>
  <joint name="camera_rgb_joint" type="fixed">
    <origin rpy="0 0 0" xyz="0 -0.005 0"/>
    <parent link="camera_link"/>
    <child link="camera_rgb_frame"/>
  </joint>
  <link name="camera_rgb_frame">
    <inertial>
      <mass value="0.001"/>
      <origin xyz="0 0 0"/>
      <inertia ixx="0.0001" ixy="0.0" ixz="0.0" iyy="0.0001" iyz="0.0" izz="0.0001"/>
    </inertial>
  </link>
  <joint name="camera_rgb_optical_joint" type="fixed">
    <origin rpy="-1.570795 0 -1.570795" xyz="0 0 0"/>
    <parent link="camera_rgb_frame"/>
    <child link="camera_rgb_optical_frame"/>
  </joint>
  <link name="camera_rgb_optical_frame">
    <inertial>
      <mass value="0.001"/>
      <origin xyz="0 0 0"/>
      <inertia ixx="0.0001" ixy="0.0" ixz="0.0" iyy="0.0001" iyz="0.0" izz="0.0001"/>
    </inertial>
  </link>
  <gazebo reference="camera_link">
    <sensor name="kinect" type="depth">
      <always_on>true</always_on>
      <update_rate>20.0</update_rate>
      <camera>
        <horizontal_fov>1.04719666667</horizontal_fov>
        <image>
          <format>R8G8B8</format>
          <width>640</width>
          <height>480</height>
        </image>
        <clip>
          <near>0.05</near>
          <far>8.0</far>
        </clip>
      </camera>
      <plugin filename="libgazebo_ros_openni_kinect.so" name="kinect_camera_controller">
        <cameraName>kinect</cameraName>
        <alwaysOn>true</alwaysOn>
        <updateRate>10</updateRate>
        <imageTopicName>rgb/image_raw</imageTopicName>
        <depthImageTopicName>depth/image_raw</depthImageTopicName>
        <pointCloudTopicName>depth/points</pointCloudTopicName>
        <cameraInfoTopicName>rgb/camera_info</cameraInfoTopicName>
        <depthImageCameraInfoTopicName>depth/camera_info</depthImageCameraInfoTopicName>
        <frameName>camera_depth_optical_frame</frameName>
        <baseline>0.1</baseline>
        <distortion_k1>0.0</distortion_k1>
        <distortion_k2>0.0</distortion_k2>
        <distortion_k3>0.0</distortion_k3>
        <distortion_t1>0.0</distortion_t1>
        <distortion_t2>0.0</distortion_t2>
        <pointCloudCutoff>0.4</pointCloudCutoff>
      </plugin>
    </sensor>
  </gazebo>
  <joint name="fixed" type="fixed">
    <parent link="e_base_brazo_1_link"/>
    <child link="base_brazo_link"/>
    <origin rpy="0 0 3.1416" xyz="0 -0.1015 0.075"/>
    <axis xyz="0 0 1"/>
  </joint>
  <link name="base_brazo_link">
    <visual>
      <geometry>
        <box size="0.032 0.05 0.04"/>
      </geometry>
      <origin rpy="0 0 0" xyz="0 -0.0135 0.020"/>
      <material name="black">
        <color rgba="0 0 0 1"/>
      </material>
    </visual>
    <collision>
      <origin rpy="0 0 0" xyz="0 -0.0135 0.020"/>
      <geometry>
        <box size="0.032 0.05 0.04"/>
      </geometry>
    </collision>
    <inertial>
      <origin rpy="0 0 0" xyz="0 -0.0135 0.020"/>
      <mass value="0.055"/>
      <inertia ixx="0.01" ixy="0.0" ixz="0.0" iyy="0.01" iyz="0.0" izz="0.01"/>
    </inertial>
  </link>
  <joint name="base" type="revolute">
    <parent link="base_brazo_link"/>
    <child link="hombro_link"/>
    <origin rpy="0 0 0" xyz="0 0 0.04"/>
    <axis xyz="0 0 1"/>
    <limit effort="1.5" lower="-2.62" upper="2.62" velocity="3"/>
    <dynamics damping="0" fricction="0"/>
  </joint>
  <link name="hombro_link">
    <visual>
      <geometry>
        <box size="0.04 0.032 0.05"/>
      </geometry>
      <origin rpy="0 0 0" xyz="0 0 0.025"/>
      <material name="black"/>
    </visual>
    <collision>
      <origin rpy="0 0 0" xyz="0 0 0.025"/>
      <geometry>
        <box size="0.04 0.032 0.05"/>
      </geometry>
    </collision>
    <inertial>
      <origin rpy="0 0 0" xyz="0 0 0.025"/>
      <mass value="0.055"/>
      <inertia ixx="0.01" ixy="0.0" ixz="0.0" iyy="0.01" iyz="0.0" izz="0.01"/>
    </inertial>
  </link>
  <joint name="arti1" type="revolute">
    <parent link="hombro_link"/>
    <child link="brazo_link"/>
    <origin rpy="0 0 0" xyz="0 0 0.0385"/>
    <axis xyz="1 0 0"/>
    <limit effort="1.5" lower="-2.62" upper="2.62" velocity="3"/>
    <dynamics damping="0" fricction="0"/>
  </joint>
  <link name="brazo_link">
    <visual>
      <geometry>
        <box size="0.04 0.032 0.05"/>
      </geometry>
      <origin rpy="0 0 0" xyz="0 0 0.0905"/>
      <material name="black"/>
    </visual>
    <collision>
      <origin rpy="0 0 0" xyz="0 0 0.0905"/>
      <geometry>
        <box size="0.04 0.032 0.05"/>
      </geometry>
    </collision>
    <inertial>
      <origin rpy="0 0 0" xyz="0 0 0.0905"/>
      <mass value="0.055"/>
      <inertia ixx="0.01" ixy="0.0" ixz="0.0" iyy="0.01" iyz="0.0" izz="0.01"/>
    </inertial>
  </link>
  <joint name="servo_arti1_B" type="fixed">
    <parent link="brazo_link"/>
    <child link="brazo_link_B"/>
    <origin rpy="0 0 0" xyz="0 0 0"/>
    <axis xyz="1 0 0"/>
  </joint>
  <link name="brazo_link_B">
    <visual>
      <geometry>
        <box size="0.04 0.032 0.020"/>
      </geometry>
      <origin rpy="0 0 0" xyz="0 0 0.0555"/>
      <material name="white">
        <color rgba="1 1 1 1"/>
      </material>
    </visual>
    <collision>
      <origin rpy="0 0 0" xyz="0 0 0.0555"/>
      <geometry>
        <box size="0.04 0.032 0.02"/>
      </geometry>
    </collision>
    <inertial>
      <origin rpy="0 0 0" xyz="0 0 0.0555"/>
      <mass value="0.001"/>
      <inertia ixx="0.001" ixy="0.0" ixz="0.0" iyy="0.001" iyz="0.0" izz="0.001"/>
    </inertial>
  </link>
  <joint name="servo_arti1_D" type="fixed">
    <parent link="brazo_link"/>
    <child link="brazo_link_SI"/>
    <origin rpy="0 0 0" xyz="0 0 0"/>
    <axis xyz="1 0 0"/>
  </joint>
  <link name="brazo_link_SI">
    <visual>
      <geometry>
        <box size="0.002 0.032 0.067"/>
      </geometry>
      <origin rpy="0 0 0" xyz="0.021 0 0.022"/>
      <material name="white">
        <color rgba="1 1 1 1"/>
      </material>
    </visual>
    <collision>
      <origin rpy="0 0 0" xyz="0.021 0 0.022"/>
      <geometry>
        <box size="0.002 0.032 0.067"/>
      </geometry>
    </collision>
    <inertial>
      <origin rpy="0 0 0" xyz="0.021 0 0.022"/>
      <mass value="0.001"/>
      <inertia ixx="0.001" ixy="0.0" ixz="0.0" iyy="0.001" iyz="0.0" izz="0.001"/>
    </inertial>
  </link>
  <joint name="servo_arti1_I" type="fixed">
    <parent link="brazo_link"/>
    <child link="brazo_link_SD"/>
    <origin rpy="0 0 0" xyz="0 0 0"/>
    <axis xyz="1 0 0"/>
  </joint>
  <link name="brazo_link_SD">
    <visual>
      <geometry>
        <box size="0.002 0.032 0.067"/>
      </geometry>
      <origin rpy="0 0 0" xyz="-0.021 0 0.022"/>
      <material name="white">
        <color rgba="1 1 1 1"/>
      </material>
    </visual>
    <collision>
      <origin rpy="0 0 0" xyz="-0.021 0 0.022"/>
      <geometry>
        <box size="0.002 0.032 0.067"/>
      </geometry>
    </collision>
    <inertial>
      <origin rpy="0 0 0" xyz="-0.021 0 0.022"/>
      <mass value="0.001"/>
      <inertia ixx="0.001" ixy="0.0" ixz="0.0" iyy="0.001" iyz="0.0" izz="0.001"/>
    </inertial>
  </link>
  <joint name="arti2" type="revolute">
    <parent link="brazo_link"/>
    <child link="antebrazo_link"/>
    <origin rpy="0 0 0" xyz="0 0 0.104"/>
    <axis xyz="1 0 0"/>
    <limit effort="1.5" lower="-2.62" upper="2.62" velocity="3"/>
    <dynamics damping="0" fricction="0"/>
  </joint>
  <link name="antebrazo_link">
    <visual>
      <geometry>
        <box size="0.04 0.032 0.05"/>
      </geometry>
      <origin rpy="0 0 0" xyz="0 0 0.0905"/>
      <material name="black"/>
    </visual>
    <collision>
      <origin rpy="0 0 0" xyz="0 0 0.0905"/>
      <geometry>
        <box size="0.04 0.032 0.05"/>
      </geometry>
    </collision>
    <inertial>
      <origin rpy="0 0 0" xyz="0 0 0.0905"/>
      <mass value="0.055"/>
      <inertia ixx="0.01" ixy="0.0" ixz="0.0" iyy="0.01" iyz="0.0" izz="0.01"/>
    </inertial>
  </link>
  <joint name="servo_arti2_B" type="fixed">
    <parent link="antebrazo_link"/>
    <child link="antebrazo_link_B"/>
    <origin rpy="0 0 0" xyz="0 0 0"/>
    <axis xyz="1 0 0"/>
  </joint>
  <link name="antebrazo_link_B">
    <visual>
      <geometry>
        <box size="0.04 0.032 0.020"/>
      </geometry>
      <origin rpy="0 0 0" xyz="0 0 0.0555"/>
      <material name="white">
        <color rgba="1 1 1 1"/>
      </material>
    </visual>
    <collision>
      <origin rpy="0 0 0" xyz="0 0 0.0555"/>
      <geometry>
        <box size="0.04 0.032 0.02"/>
      </geometry>
    </collision>
    <inertial>
      <origin rpy="0 0 0" xyz="0 0 0.0555"/>
      <mass value="0.001"/>
      <inertia ixx="0.001" ixy="0.0" ixz="0.0" iyy="0.001" iyz="0.0" izz="0.001"/>
    </inertial>
  </link>
  <joint name="servo_arti2_D" type="fixed">
    <parent link="antebrazo_link"/>
    <child link="antebrazo_link_SI"/>
    <origin rpy="0 0 0" xyz="0 0 0"/>
    <axis xyz="1 0 0"/>
  </joint>
  <link name="antebrazo_link_SI">
    <visual>
      <geometry>
        <box size="0.002 0.032 0.067"/>
      </geometry>
      <origin rpy="0 0 0" xyz="0.021 0 0.022"/>
      <material name="white">
        <color rgba="1 1 1 1"/>
      </material>
    </visual>
    <collision>
      <origin rpy="0 0 0" xyz="0.021 0 0.022"/>
      <geometry>
        <box size="0.002 0.032 0.067"/>
      </geometry>
    </collision>
    <inertial>
      <origin rpy="0 0 0" xyz="0.021 0 0.022"/>
      <mass value="0.001"/>
      <inertia ixx="0.001" ixy="0.0" ixz="0.0" iyy="0.001" iyz="0.0" izz="0.001"/>
    </inertial>
  </link>
  <joint name="servo_arti2_I" type="fixed">
    <parent link="antebrazo_link"/>
    <child link="antebrazo_link_SD"/>
    <origin rpy="0 0 0" xyz="0 0 0"/>
    <axis xyz="1 0 0"/>
  </joint>
  <link name="antebrazo_link_SD">
    <visual>
      <geometry>
        <box size="0.002 0.032 0.067"/>
      </geometry>
      <origin rpy="0 0 0" xyz="-0.021 0 0.022"/>
      <material name="white">
        <color rgba="1 1 1 1"/>
      </material>
    </visual>
    <collision>
      <origin rpy="0 0 0" xyz="-0.021 0 0.022"/>
      <geometry>
        <box size="0.002 0.032 0.067"/>
      </geometry>
    </collision>
    <inertial>
      <origin rpy="0 0 0" xyz="-0.021 0 0.022"/>
      <mass value="0.001"/>
      <inertia ixx="0.001" ixy="0.0" ixz="0.0" iyy="0.001" iyz="0.0" izz="0.001"/>
    </inertial>
  </link>
  <joint name="arti3" type="revolute">
    <parent link="antebrazo_link"/>
    <child link="muneca_link"/>
    <origin rpy="0 0 0" xyz="0 0 0.104"/>
    <axis xyz="1 0 0"/>
    <limit effort="1.5" lower="-2.62" upper="2.62" velocity="3"/>
    <dynamics damping="0" fricction="0"/>
  </joint>
  <link name="muneca_link">
    <visual>
      <geometry>
        <box size="0.05 0.04 0.032"/>
      </geometry>
      <origin rpy="0 0 0" xyz="0.00625 0 0.06"/>
      <material name="black"/>
    </visual>
    <collision>
      <origin rpy="0 0 0" xyz="0.00625 0 0.06"/>
      <geometry>
        <box size="0.05 0.04 0.032"/>
      </geometry>
    </collision>
    <inertial>
      <origin rpy="0 0 0" xyz="0.00625 0 0.06"/>
      <mass value="0.055"/>
      <inertia ixx="0.01" ixy="0.0" ixz="0.0" iyy="0.01" iyz="0.0" izz="0.01"/>
    </inertial>
  </link>
  <joint name="servo_arti3_B" type="fixed">
    <parent link="muneca_link"/>
    <child link="muneca_link_B"/>
    <origin rpy="0 0 0" xyz="0 0 0"/>
    <axis xyz="1 0 0"/>
  </joint>
  <link name="muneca_link_B">
    <visual>
      <geometry>
        <box size="0.05325 0.04 0.005"/>
      </geometry>
      <origin rpy="0 0 0" xyz="0.004625 0 0.0415"/>
      <material name="white">
        <color rgba="1 1 1 1"/>
      </material>
    </visual>
    <collision>
      <origin rpy="0 0 0" xyz="0.004625 0 0.0415"/>
      <geometry>
        <box size="0.05325 0.04 0.005"/>
      </geometry>
    </collision>
    <inertial>
      <origin rpy="0 0 0" xyz="0.004625 0 0.0415"/>
      <mass value="0.0005"/>
      <inertia ixx="0.001" ixy="0.0" ixz="0.0" iyy="0.001" iyz="0.0" izz="0.001"/>
    </inertial>
  </link>
  <joint name="servo_arti3_D" type="fixed">
    <parent link="muneca_link"/>
    <child link="muneca_link_SI"/>
    <origin rpy="0 0 0" xyz="0 0 0"/>
    <axis xyz="1 0 0"/>
  </joint>
  <link name="muneca_link_SI">
    <visual>
      <geometry>
        <box size="0.002 0.032 0.0555"/>
      </geometry>
      <origin rpy="0 0 0" xyz="0.021 0 0.01625"/>
      <material name="white">
        <color rgba="1 1 1 1"/>
      </material>
    </visual>
    <collision>
      <origin rpy="0 0 0" xyz="0.021 0 0.01625"/>
      <geometry>
        <box size="0.002 0.032 0.0555"/>
      </geometry>
    </collision>
    <inertial>
      <origin rpy="0 0 0" xyz="0.021 0 0.01625"/>
      <mass value="0.0005"/>
      <inertia ixx="0.001" ixy="0.0" ixz="0.0" iyy="0.001" iyz="0.0" izz="0.001"/>
    </inertial>
  </link>
  <joint name="servo_arti3_I" type="fixed">
    <parent link="muneca_link"/>
    <child link="muneca_link_SD"/>
    <origin rpy="0 0 0" xyz="0 0 0"/>
    <axis xyz="1 0 0"/>
  </joint>
  <link name="muneca_link_SD">
    <visual>
      <geometry>
        <box size="0.002 0.032 0.0555"/>
      </geometry>
      <origin rpy="0 0 0" xyz="-0.021 0 0.01625"/>
      <material name="white">
        <color rgba="1 1 1 1"/>
      </material>
    </visual>
    <collision>
      <origin rpy="0 0 0" xyz="-0.021 0 0.01625"/>
      <geometry>
        <box size="0.002 0.032 0.0555"/>
      </geometry>
    </collision>
    <inertial>
      <origin rpy="0 0 0" xyz="-0.021 0 0.01625"/>
      <mass value="0.0005"/>
      <inertia ixx="0.001" ixy="0.0" ixz="0.0" iyy="0.001" iyz="0.0" izz="0.001"/>
    </inertial>
  </link>
  <joint name="servo_arti3_P" type="fixed">
    <parent link="muneca_link"/>
    <child link="muneca_link_P"/>
    <origin rpy="0 0 0" xyz="0 0 0"/>
    <axis xyz="1 0 0"/>
  </joint>
  <link name="muneca_link_P">
    <visual>
      <geometry>
        <box size="0.002 0.04 0.092"/>
      </geometry>
      <origin rpy="0 0 0" xyz="0.03425 0 0.090"/>
      <material name="white">
        <color rgba="1 1 1 1"/>
      </material>
    </visual>
    <collision>
      <origin rpy="0 0 0" xyz="0.03425 0 0.090"/>
      <geometry>
        <box size="0.002 0.04 0.092"/>
      </geometry>
    </collision>
    <inertial>
      <origin rpy="0 0 0" xyz="0.03425 0 0.090"/>
      <mass value="0.001"/>
      <inertia ixx="0.001" ixy="0.0" ixz="0.0" iyy="0.001" iyz="0.0" izz="0.001"/>
    </inertial>
  </link>
  <joint name="servo_arti3_PS" type="fixed">
    <parent link="muneca_link"/>
    <child link="muneca_link_PS"/>
    <origin rpy="0 0 0" xyz="0 0 0"/>
    <axis xyz="1 0 0"/>
  </joint>
  <link name="muneca_link_PS">
    <visual>
      <geometry>
        <box size="0.002 0.04 0.037"/>
      </geometry>
      <origin rpy="0 0 0" xyz="0.03225 0 0.0575"/>
      <material name="white">
        <color rgba="1 1 1 1"/>
      </material>
    </visual>
    <collision>
      <origin rpy="0 0 0" xyz="0.03225 0 0.0575"/>
      <geometry>
        <box size="0.002 0.04 0.037"/>
      </geometry>
    </collision>
    <inertial>
      <origin rpy="0 0 0" xyz="0.03225 0 0.0575"/>
      <mass value="0.0005"/>
      <inertia ixx="0.001" ixy="0.0" ixz="0.0" iyy="0.001" iyz="0.0" izz="0.001"/>
    </inertial>
  </link>
  <joint name="pinza" type="revolute">
    <parent link="muneca_link"/>
    <child link="pinza_link"/>
    <origin rpy="0 0 0" xyz="-0.00725 0 0.06"/>
    <axis xyz="0 1 0"/>
    <limit effort="1.5" lower="-2.62" upper="2.62" velocity="3"/>
    <dynamics damping="0" fricction="0"/>
  </joint>
  <link name="pinza_link">
    <visual>
      <geometry>
        <box size="0.002 0.04 0.092"/>
      </geometry>
      <origin rpy="0 0 0" xyz="-0.027 0 0.030"/>
      <material name="white">
        <color rgba="1 1 1 1"/>
      </material>
    </visual>
    <collision>
      <origin rpy="0 0 0" xyz="-0.027 0 0.030"/>
      <geometry>
        <box size="0.002 0.04 0.092"/>
      </geometry>
    </collision>
    <inertial>
      <origin rpy="0 0 0" xyz="-0.027 0 0.030"/>
      <mass value="0.001"/>
      <inertia ixx="0.001" ixy="0.0" ixz="0.0" iyy="0.001" iyz="0.0" izz="0.001"/>
    </inertial>
  </link>
  <joint name="servo_pinza_B" type="fixed">
    <parent link="pinza_link"/>
    <child link="pinza_link_B"/>
    <origin rpy="0 0 0" xyz="0 0 0"/>
    <axis xyz="1 0 0"/>
  </joint>
  <link name="pinza_link_B">
    <visual>
      <geometry>
        <box size="0.002 0.04 0.032"/>
      </geometry>
      <origin rpy="0 0 0" xyz="-0.025 0 0"/>
      <material name="white">
        <color rgba="1 1 1 1"/>
      </material>
    </visual>
    <collision>
      <origin rpy="0 0 0" xyz="-0.025 0 0"/>
      <geometry>
        <box size="0.002 0.04 0.032"/>
      </geometry>
    </collision>
    <inertial>
      <origin rpy="0 0 0" xyz="-0.025 0 0"/>
      <mass value="0.0005"/>
      <inertia ixx="0.001" ixy="0.0" ixz="0.0" iyy="0.001" iyz="0.0" izz="0.001"/>
    </inertial>
  </link>
  <joint name="servo_pinza_D" type="fixed">
    <parent link="pinza_link"/>
    <child link="pinza_link_SI"/>
    <origin rpy="0 0 0" xyz="0 0 0"/>
    <axis xyz="1 0 0"/>
  </joint>
  <link name="pinza_link_SI">
    <visual>
      <geometry>
        <box size="0.0375 0.002 0.032"/>
      </geometry>
      <origin rpy="0 0 0" xyz="-0.00725 0.021 0"/>
      <material name="white">
        <color rgba="1 1 1 1"/>
      </material>
    </visual>
    <collision>
      <origin rpy="0 0 0" xyz="-0.00725 0.021 0"/>
      <geometry>
        <box size="0.0375 0.002 0.032"/>
      </geometry>
    </collision>
    <inertial>
      <origin rpy="0 0 0" xyz="-0.00725 0.021 0"/>
      <mass value="0.0005"/>
      <inertia ixx="0.001" ixy="0.0" ixz="0.0" iyy="0.001" iyz="0.0" izz="0.001"/>
    </inertial>
  </link>
  <joint name="servo_pinza_I" type="fixed">
    <parent link="pinza_link"/>
    <child link="pinza_link_SD"/>
    <origin rpy="0 0 0" xyz="0 0 0"/>
    <axis xyz="1 0 0"/>
  </joint>
  <link name="pinza_link_SD">
    <visual>
      <geometry>
        <box size="0.0375 0.002 0.032"/>
      </geometry>
      <origin rpy="0 0 0" xyz="-0.00725 -0.021 0"/>
      <material name="white">
        <color rgba="1 1 1 1"/>
      </material>
    </visual>
    <collision>
      <origin rpy="0 0 0" xyz="-0.00725 -0.021 0"/>
      <geometry>
        <box size="0.0375 0.002 0.032"/>
      </geometry>
    </collision>
    <inertial>
      <origin rpy="0 0 0" xyz="-0.00725 -0.021 0"/>
      <mass value="0.0005"/>
      <inertia ixx="0.001" ixy="0.0" ixz="0.0" iyy="0.001" iyz="0.0" izz="0.001"/>
    </inertial>
  </link>
  <gazebo reference="base_brazo_link">
    <mu1>100</mu1>
    <mu2>100</mu2>
    <kp>100000000000</kp>
    <kd>1000000000</kd>
    <material>brazo_fer/Black</material>
    <selfCollide>true</selfCollide>
    <turnGravityOff>false</turnGravityOff>
  </gazebo>
  <gazebo reference="hombro_link">
    <mu1>100</mu1>
    <mu2>100</mu2>
    <kp>100000000000</kp>
    <kd>1000000000</kd>
    <material>brazo_fer/Black</material>
    <selfCollide>true</selfCollide>
    <turnGravityOff>false</turnGravityOff>
  </gazebo>
  <gazebo reference="brazo_link">
    <mu1>100</mu1>
    <mu2>100</mu2>
    <kp>100000000000</kp>
    <kd>1000000000</kd>
    <material>brazo_fer/Black</material>
    <selfCollide>true</selfCollide>
    <turnGravityOff>false</turnGravityOff>
  </gazebo>
  <gazebo reference="antebrazo_link">
    <mu1>100</mu1>
    <mu2>100</mu2>
    <kp>100000000000</kp>
    <kd>1000000000</kd>
    <material>brazo_fer/Black</material>
    <selfCollide>true</selfCollide>
    <turnGravityOff>false</turnGravityOff>
  </gazebo>
  <gazebo reference="muneca_link">
    <mu1>100</mu1>
    <mu2>100</mu2>
    <kp>100000000000</kp>
    <kd>1000000000</kd>
    <material>brazo_fer/Black</material>
    <selfCollide>true</selfCollide>
    <turnGravityOff>false</turnGravityOff>
  </gazebo>
  <gazebo reference="brazo_link_B">
    <mu1>100</mu1>
    <mu2>100</mu2>
    <kp>100000000000</kp>
    <kd>1000000000</kd>
    <material>brazo_fer/White</material>
    <selfCollide>true</selfCollide>
    <turnGravityOff>false</turnGravityOff>
  </gazebo>
  <gazebo reference="brazo_link_SI">
    <mu1>100</mu1>
    <mu2>100</mu2>
    <kp>100000000000</kp>
    <kd>1000000000</kd>
    <material>brazo_fer/White</material>
    <selfCollide>true</selfCollide>
    <turnGravityOff>false</turnGravityOff>
  </gazebo>
  <gazebo reference="brazo_link_SD">
    <mu1>100</mu1>
    <mu2>100</mu2>
    <kp>100000000000</kp>
    <kd>1000000000</kd>
    <material>brazo_fer/White</material>
    <selfCollide>true</selfCollide>
    <turnGravityOff>false</turnGravityOff>
  </gazebo>
  <gazebo reference="antebrazo_link_B">
    <mu1>100</mu1>
    <mu2>100</mu2>
    <kp>100000000000</kp>
    <kd>1000000000</kd>
    <material>brazo_fer/White</material>
    <selfCollide>true</selfCollide>
    <turnGravityOff>false</turnGravityOff>
  </gazebo>
  <gazebo reference="antebrazo_link_SI">
    <mu1>100</mu1>
    <mu2>100</mu2>
    <kp>100000000000</kp>
    <kd>1000000000</kd>
    <material>brazo_fer/White</material>
    <selfCollide>true</selfCollide>
    <turnGravityOff>false</turnGravityOff>
  </gazebo>
  <gazebo reference="antebrazo_link_SD">
    <mu1>100</mu1>
    <mu2>100</mu2>
    <kp>100000000000</kp>
    <kd>1000000000</kd>
    <material>brazo_fer/White</material>
    <selfCollide>true</selfCollide>
    <turnGravityOff>false</turnGravityOff>
  </gazebo>
  <gazebo reference="muneca_link_B">
    <mu1>100</mu1>
    <mu2>100</mu2>
    <kp>100000000000</kp>
    <kd>1000000000</kd>
    <material>brazo_fer/White</material>
    <selfCollide>true</selfCollide>
    <turnGravityOff>false</turnGravityOff>
  </gazebo>
  <gazebo reference="muneca_link_SI">
    <mu1>100</mu1>
    <mu2>100</mu2>
    <kp>100000000000</kp>
    <kd>1000000000</kd>
    <material>brazo_fer/White</material>
    <selfCollide>true</selfCollide>
    <turnGravityOff>false</turnGravityOff>
  </gazebo>
  <gazebo reference="muneca_link_SD">
    <mu1>100</mu1>
    <mu2>100</mu2>
    <kp>100000000000</kp>
    <kd>1000000000</kd>
    <material>brazo_fer/White</material>
    <selfCollide>true</selfCollide>
    <turnGravityOff>false</turnGravityOff>
  </gazebo>
  <gazebo reference="muneca_link_P">
    <mu1>100</mu1>
    <mu2>100</mu2>
    <kp>100000000000</kp>
    <kd>1000000000</kd>
    <material>brazo_fer/WhiteTransparent</material>
    <selfCollide>true</selfCollide>
    <turnGravityOff>false</turnGravityOff>
  </gazebo>
  <gazebo reference="muneca_link_PS">
    <mu1>100</mu1>
    <mu2>100</mu2>
    <kp>100000000000</kp>
    <kd>1000000000</kd>
    <material>brazo_fer/White</material>
    <selfCollide>true</selfCollide>
    <turnGravityOff>false</turnGravityOff>
  </gazebo>
  <gazebo reference="pinza_link">
    <mu1>100</mu1>
    <mu2>100</mu2>
    <kp>100000000000</kp>
    <kd>1000000000</kd>
    <material>brazo_fer/WhiteTransparent</material>
    <selfCollide>true</selfCollide>
    <turnGravityOff>false</turnGravityOff>
  </gazebo>
  <gazebo reference="pinza_link_B">
    <mu1>100</mu1>
    <mu2>100</mu2>
    <kp>100000000000</kp>
    <kd>1000000000</kd>
    <material>brazo_fer/White</material>
    <selfCollide>true</selfCollide>
    <turnGravityOff>false</turnGravityOff>
  </gazebo>
  <gazebo reference="pinza_link_SI">
    <mu1>100</mu1>
    <mu2>100</mu2>
    <kp>100000000000</kp>
    <kd>1000000000</kd>
    <material>brazo_fer/White</material>
    <selfCollide>true</selfCollide>
    <turnGravityOff>false</turnGravityOff>
  </gazebo>
  <gazebo reference="pinza_link_SD">
    <mu1>100</mu1>
    <mu2>100</mu2>
    <kp>100000000000</kp>
    <kd>1000000000</kd>
    <material>brazo_fer/White</material>
    <selfCollide>true</selfCollide>
    <turnGravityOff>false</turnGravityOff>
  </gazebo>
  <gazebo reference="base">
    <erp>0.1</erp>
    <stopKd value="100000000.0"/>
    <stopKp value="100000000.0"/>
    <fudgeFactor value="0.5"/>
  </gazebo>
  <gazebo reference="arti1">
    <erp>0.1</erp>
    <stopKd value="100000000.0"/>
    <stopKp value="100000000.0"/>
    <fudgeFactor value="0.5"/>
  </gazebo>
  <gazebo reference="arti2">
    <erp>0.1</erp>
    <stopKd value="100000000.0"/>
    <stopKp value="100000000.0"/>
    <fudgeFactor value="0.5"/>
  </gazebo>
  <gazebo reference="arti3">
    <erp>0.1</erp>
    <stopKd value="100000000.0"/>
    <stopKp value="100000000.0"/>
    <fudgeFactor value="0.5"/>
  </gazebo>
  <gazebo reference="pinza">
    <erp>0.1</erp>
    <stopKd value="100000000.0"/>
    <stopKp value="100000000.0"/>
    <fudgeFactor value="0.5"/>
  </gazebo>
  <!--webcam parent="e_monitor_link">
		<origin rpy="0 0 0" xyz="-0.135 -0.135 ${0.185/2}"/>	
	</webcam-->
  <joint name="camera_rgb_joint_xtion" type="fixed">
    <origin rpy="0 0.65 -1.57" xyz="0.0 -0.03 0.175"/>
    <parent link="e_soporte_3_link"/>
    <child link="camera_rgb_frame_xtion"/>
  </joint>
  <link name="camera_rgb_frame_xtion">
    <inertial>
      <mass value="0.001"/>
      <origin xyz="0 0 0"/>
      <inertia ixx="0.0001" ixy="0.0" ixz="0.0" iyy="0.0001" iyz="0.0" izz="0.0001"/>
    </inertial>
  </link>
  <joint name="camera_rgb_optical_joint_xtion" type="fixed">
    <origin rpy="-1.570795 0 -1.570795" xyz="0 0 0"/>
    <parent link="camera_rgb_frame_xtion"/>
    <child link="camera_rgb_optical_frame_xtion"/>
  </joint>
  <link name="camera_rgb_optical_frame_xtion">
    <inertial>
      <mass value="0.001"/>
      <origin xyz="0 0 0"/>
      <inertia ixx="0.0001" ixy="0.0" ixz="0.0" iyy="0.0001" iyz="0.0" izz="0.0001"/>
    </inertial>
  </link>
  <joint name="camera_joint_xtion" type="fixed">
    <origin rpy="0 0 0" xyz="0.0175 0.0 0.021"/>
    <parent link="camera_rgb_frame_xtion"/>
    <child link="camera_link_xtion"/>
  </joint>
  <link name="camera_link_xtion">
    <visual>
      <origin rpy="-1.570795 -3.14159 -1.570795" xyz="-0.01 0 0"/>
      <geometry>
        <mesh filename="package://myrabot_robot_model_b/meshes/asus_xtion_pro_live.dae" scale="0.001 0.001 0.001"/>
      </geometry>
    </visual>
    <collision>
      <origin rpy="-1.570795 -3.14159 -1.570795" xyz="-0.01 0 0"/>
      <geometry>
        <mesh filename="package://myrabot_robot_model_b/meshes/asus_xtion_pro_live.dae" scale="0.001 0.001 0.001"/>
      </geometry>
    </collision>
    <inertial>
      <mass value="0.01"/>
      <origin xyz="0 0 0"/>
      <inertia ixx="0.001" ixy="0.0" ixz="0.0" iyy="0.001" iyz="0.0" izz="0.001"/>
    </inertial>
  </link>
  <joint name="camera_depth_joint_xtion" type="fixed">
    <origin rpy="0 0 0" xyz="0.0175 0.049 0.021"/>
    <parent link="camera_rgb_frame_xtion"/>
    <child link="camera_depth_frame_xtion"/>
  </joint>
  <link name="camera_depth_frame_xtion">
    <inertial>
      <mass value="0.01"/>
      <origin xyz="0 0 0"/>
      <inertia ixx="0.001" ixy="0.0" ixz="0.0" iyy="0.001" iyz="0.0" izz="0.001"/>
    </inertial>
  </link>
  <joint name="camera_depth_optical_joint_xtion" type="fixed">
    <origin rpy="-1.570795 0 -1.570795" xyz="0 0 0"/>
    <parent link="camera_depth_frame_xtion"/>
    <child link="camera_depth_optical_frame_xtion"/>
  </joint>
  <link name="camera_depth_optical_frame_xtion">
    <inertial>
      <mass value="0.001"/>
      <origin xyz="0 0 0"/>
      <inertia ixx="0.0001" ixy="0.0" ixz="0.0" iyy="0.0001" iyz="0.0" izz="0.0001"/>
    </inertial>
  </link>
  <gazebo reference="camera_link_xtion">
    <sensor name="xtion" type="depth">
      <always_on>true</always_on>
      <update_rate>20.0</update_rate>
      <camera>
        <horizontal_fov>1.04719666667</horizontal_fov>
        <image>
          <format>R8G8B8</format>
          <width>640</width>
          <height>480</height>
        </image>
        <clip>
          <near>0.05</near>
          <far>8.0</far>
        </clip>
      </camera>
      <plugin filename="libgazebo_ros_openni_kinect.so" name="xtion_camera_controller">
        <cameraName>xtion</cameraName>
        <alwaysOn>true</alwaysOn>
        <updateRate>10</updateRate>
        <imageTopicName>rgb/image_raw</imageTopicName>
        <depthImageTopicName>depth/image_raw</depthImageTopicName>
        <pointCloudTopicName>depth/points</pointCloudTopicName>
        <cameraInfoTopicName>rgb/camera_info</cameraInfoTopicName>
        <depthImageCameraInfoTopicName>depth/camera_info</depthImageCameraInfoTopicName>
        <frameName>camera_depth_optical_frame_xtion</frameName>
        <baseline>0.1</baseline>
        <distortion_k1>0.0</distortion_k1>
        <distortion_k2>0.0</distortion_k2>
        <distortion_k3>0.0</distortion_k3>
        <distortion_t1>0.0</distortion_t1>
        <distortion_t2>0.0</distortion_t2>
        <pointCloudCutoff>0.4</pointCloudCutoff>
      </plugin>
    </sensor>
  </gazebo>
  <joint name="ultrasonidos_1_joint_fisico" type="fixed">
    <parent link="e_base_2_link"/>
    <child link="ultrasonidos_1_link_fisico"/>
    <origin rpy="0 0 1.57" xyz="0 0 0.033"/>
  </joint>
  <link name="ultrasonidos_1_link_fisico">
    <inertial>
      <mass value="0.001"/>
      <origin rpy="1.57 0 0" xyz="0 -0.15 0.0075"/>
      <inertia ixx="0.0001" ixy="0.0" ixz="0.0" iyy="0.0001" iyz="0.0" izz="0.0001"/>
    </inertial>
    <visual>
      <origin rpy="1.57 0 0" xyz="0 -0.15 0.0075"/>
      <geometry>
        <cylinder length="0.015" radius="0.0075"/>
      </geometry>
      <material name="black">
        <color rgba="0 0 0 1"/>
      </material>
    </visual>
    <collision>
      <origin rpy="1.57 0 0" xyz="0 -0.15 0.0075"/>
      <geometry>
        <cylinder length="0.015" radius="0.0075"/>
      </geometry>
    </collision>
  </link>
  <joint name="ultrasonidos_1_joint" type="fixed">
    <parent link="ultrasonidos_1_link_fisico"/>
    <child link="ultrasonidos_1_link"/>
    <origin rpy="0 0 -1.57" xyz="0 -0.1575 0.0075"/>
  </joint>
  <link name="ultrasonidos_1_link">

  </link>
  <gazebo reference="ultrasonidos_1_link_fisico">
    <material>myrabot_fer/Black</material>
    <mu1>0.5</mu1>
    <mu2>0.5</mu2>
    <selfCollide>true</selfCollide>
    <turnGravityOff>false</turnGravityOff>
  </gazebo>
  <gazebo reference="ultrasonidos_1_link">
    <sensor name="ultrasonidos_1" type="ray">
      <always_on>true</always_on>
      <update_rate>50</update_rate>
      <pose>0 0 0 0 0 0</pose>
      <visualize>false</visualize>
      <ray>
        <scan>
          <horizontal>
            <samples>10</samples>
            <resolution>1</resolution>
            <min_angle>-0.28</min_angle>
            <max_angle>0.28</max_angle>
          </horizontal>
          <!--vertical>
              <samples>${ray_count}</samples>
              <resolution>1</resolution>
              <min_angle>-${field_of_view/2}</min_angle>
              <max_angle> ${field_of_view/2}</max_angle>
            </vertical-->
        </scan>
        <range>
          <min>0</min>
          <max>7</max>
          <resolution>0.01</resolution>
        </range>
      </ray>
      <plugin filename="libgazebo_ros_range.so" name="gazebo_ros_ultrasonidos_1_controller">
        <gaussianNoise>0.005</gaussianNoise>
        <alwaysOn>true</alwaysOn>
        <updateRate>50</updateRate>
        <radiation>ultrasound</radiation>
        <fov>32</fov>
        <topicName>ultrasonidos_1</topicName>
        <frameId>ultrasonidos_1_link</frameId>
      </plugin>
    </sensor>
  </gazebo>
  <joint name="ultrasonidos_2_joint_fisico" type="fixed">
    <parent link="e_base_2_link"/>
    <child link="ultrasonidos_2_link_fisico"/>
    <origin rpy="0 0 2.36" xyz="0 0 0.033"/>
  </joint>
  <link name="ultrasonidos_2_link_fisico">
    <inertial>
      <mass value="0.001"/>
      <origin rpy="1.57 0 0" xyz="0 -0.15 0.0075"/>
      <inertia ixx="0.0001" ixy="0.0" ixz="0.0" iyy="0.0001" iyz="0.0" izz="0.0001"/>
    </inertial>
    <visual>
      <origin rpy="1.57 0 0" xyz="0 -0.15 0.0075"/>
      <geometry>
        <cylinder length="0.015" radius="0.0075"/>
      </geometry>
      <material name="black">
        <color rgba="0 0 0 1"/>
      </material>
    </visual>
    <collision>
      <origin rpy="1.57 0 0" xyz="0 -0.15 0.0075"/>
      <geometry>
        <cylinder length="0.015" radius="0.0075"/>
      </geometry>
    </collision>
  </link>
  <joint name="ultrasonidos_2_joint" type="fixed">
    <parent link="ultrasonidos_2_link_fisico"/>
    <child link="ultrasonidos_2_link"/>
    <origin rpy="0 0 -1.57" xyz="0 -0.1575 0.0075"/>
  </joint>
  <link name="ultrasonidos_2_link">

  </link>
  <gazebo reference="ultrasonidos_2_link_fisico">
    <material>myrabot_fer/Black</material>
    <mu1>0.5</mu1>
    <mu2>0.5</mu2>
    <selfCollide>true</selfCollide>
    <turnGravityOff>false</turnGravityOff>
  </gazebo>
  <gazebo reference="ultrasonidos_2_link">
    <sensor name="ultrasonidos_2" type="ray">
      <always_on>true</always_on>
      <update_rate>50</update_rate>
      <pose>0 0 0 0 0 0</pose>
      <visualize>false</visualize>
      <ray>
        <scan>
          <horizontal>
            <samples>10</samples>
            <resolution>1</resolution>
            <min_angle>-0.28</min_angle>
            <max_angle>0.28</max_angle>
          </horizontal>
          <!--vertical>
              <samples>${ray_count}</samples>
              <resolution>1</resolution>
              <min_angle>-${field_of_view/2}</min_angle>
              <max_angle> ${field_of_view/2}</max_angle>
            </vertical-->
        </scan>
        <range>
          <min>0</min>
          <max>7</max>
          <resolution>0.01</resolution>
        </range>
      </ray>
      <plugin filename="libgazebo_ros_range.so" name="gazebo_ros_ultrasonidos_2_controller">
        <gaussianNoise>0.005</gaussianNoise>
        <alwaysOn>true</alwaysOn>
        <updateRate>50</updateRate>
        <radiation>ultrasound</radiation>
        <fov>32</fov>
        <topicName>ultrasonidos_2</topicName>
        <frameId>ultrasonidos_2_link</frameId>
      </plugin>
    </sensor>
  </gazebo>
  <joint name="ultrasonidos_3_joint_fisico" type="fixed">
    <parent link="e_base_2_link"/>
    <child link="ultrasonidos_3_link_fisico"/>
    <origin rpy="0 0 3.14" xyz="0 0 0.033"/>
  </joint>
  <link name="ultrasonidos_3_link_fisico">
    <inertial>
      <mass value="0.001"/>
      <origin rpy="1.57 0 0" xyz="0 -0.15 0.0075"/>
      <inertia ixx="0.0001" ixy="0.0" ixz="0.0" iyy="0.0001" iyz="0.0" izz="0.0001"/>
    </inertial>
    <visual>
      <origin rpy="1.57 0 0" xyz="0 -0.15 0.0075"/>
      <geometry>
        <cylinder length="0.015" radius="0.0075"/>
      </geometry>
      <material name="black">
        <color rgba="0 0 0 1"/>
      </material>
    </visual>
    <collision>
      <origin rpy="1.57 0 0" xyz="0 -0.15 0.0075"/>
      <geometry>
        <cylinder length="0.015" radius="0.0075"/>
      </geometry>
    </collision>
  </link>
  <joint name="ultrasonidos_3_joint" type="fixed">
    <parent link="ultrasonidos_3_link_fisico"/>
    <child link="ultrasonidos_3_link"/>
    <origin rpy="0 0 -1.57" xyz="0 -0.1575 0.0075"/>
  </joint>
  <link name="ultrasonidos_3_link">

  </link>
  <gazebo reference="ultrasonidos_3_link_fisico">
    <material>myrabot_fer/Black</material>
    <mu1>0.5</mu1>
    <mu2>0.5</mu2>
    <selfCollide>true</selfCollide>
    <turnGravityOff>false</turnGravityOff>
  </gazebo>
  <gazebo reference="ultrasonidos_3_link">
    <sensor name="ultrasonidos_3" type="ray">
      <always_on>true</always_on>
      <update_rate>50</update_rate>
      <pose>0 0 0 0 0 0</pose>
      <visualize>false</visualize>
      <ray>
        <scan>
          <horizontal>
            <samples>10</samples>
            <resolution>1</resolution>
            <min_angle>-0.28</min_angle>
            <max_angle>0.28</max_angle>
          </horizontal>
          <!--vertical>
              <samples>${ray_count}</samples>
              <resolution>1</resolution>
              <min_angle>-${field_of_view/2}</min_angle>
              <max_angle> ${field_of_view/2}</max_angle>
            </vertical-->
        </scan>
        <range>
          <min>0</min>
          <max>7</max>
          <resolution>0.01</resolution>
        </range>
      </ray>
      <plugin filename="libgazebo_ros_range.so" name="gazebo_ros_ultrasonidos_3_controller">
        <gaussianNoise>0.005</gaussianNoise>
        <alwaysOn>true</alwaysOn>
        <updateRate>50</updateRate>
        <radiation>ultrasound</radiation>
        <fov>32</fov>
        <topicName>ultrasonidos_3</topicName>
        <frameId>ultrasonidos_3_link</frameId>
      </plugin>
    </sensor>
  </gazebo>
  <joint name="ultrasonidos_4_joint_fisico" type="fixed">
    <parent link="e_base_2_link"/>
    <child link="ultrasonidos_4_link_fisico"/>
    <origin rpy="0 0 3.93" xyz="0 0 0.033"/>
  </joint>
  <link name="ultrasonidos_4_link_fisico">
    <inertial>
      <mass value="0.001"/>
      <origin rpy="1.57 0 0" xyz="0 -0.15 0.0075"/>
      <inertia ixx="0.0001" ixy="0.0" ixz="0.0" iyy="0.0001" iyz="0.0" izz="0.0001"/>
    </inertial>
    <visual>
      <origin rpy="1.57 0 0" xyz="0 -0.15 0.0075"/>
      <geometry>
        <cylinder length="0.015" radius="0.0075"/>
      </geometry>
      <material name="black">
        <color rgba="0 0 0 1"/>
      </material>
    </visual>
    <collision>
      <origin rpy="1.57 0 0" xyz="0 -0.15 0.0075"/>
      <geometry>
        <cylinder length="0.015" radius="0.0075"/>
      </geometry>
    </collision>
  </link>
  <joint name="ultrasonidos_4_joint" type="fixed">
    <parent link="ultrasonidos_4_link_fisico"/>
    <child link="ultrasonidos_4_link"/>
    <origin rpy="0 0 -1.57" xyz="0 -0.1575 0.0075"/>
  </joint>
  <link name="ultrasonidos_4_link">

  </link>
  <gazebo reference="ultrasonidos_4_link_fisico">
    <material>myrabot_fer/Black</material>
    <mu1>0.5</mu1>
    <mu2>0.5</mu2>
    <selfCollide>true</selfCollide>
    <turnGravityOff>false</turnGravityOff>
  </gazebo>
  <gazebo reference="ultrasonidos_4_link">
    <sensor name="ultrasonidos_4" type="ray">
      <always_on>true</always_on>
      <update_rate>50</update_rate>
      <pose>0 0 0 0 0 0</pose>
      <visualize>false</visualize>
      <ray>
        <scan>
          <horizontal>
            <samples>10</samples>
            <resolution>1</resolution>
            <min_angle>-0.28</min_angle>
            <max_angle>0.28</max_angle>
          </horizontal>
          <!--vertical>
              <samples>${ray_count}</samples>
              <resolution>1</resolution>
              <min_angle>-${field_of_view/2}</min_angle>
              <max_angle> ${field_of_view/2}</max_angle>
            </vertical-->
        </scan>
        <range>
          <min>0</min>
          <max>7</max>
          <resolution>0.01</resolution>
        </range>
      </ray>
      <plugin filename="libgazebo_ros_range.so" name="gazebo_ros_ultrasonidos_4_controller">
        <gaussianNoise>0.005</gaussianNoise>
        <alwaysOn>true</alwaysOn>
        <updateRate>50</updateRate>
        <radiation>ultrasound</radiation>
        <fov>32</fov>
        <topicName>ultrasonidos_4</topicName>
        <frameId>ultrasonidos_4_link</frameId>
      </plugin>
    </sensor>
  </gazebo>
  <joint name="ultrasonidos_5_joint_fisico" type="fixed">
    <parent link="e_base_2_link"/>
    <child link="ultrasonidos_5_link_fisico"/>
    <origin rpy="0 0 4.71" xyz="0 0 0.033"/>
  </joint>
  <link name="ultrasonidos_5_link_fisico">
    <inertial>
      <mass value="0.001"/>
      <origin rpy="1.57 0 0" xyz="0 -0.15 0.0075"/>
      <inertia ixx="0.0001" ixy="0.0" ixz="0.0" iyy="0.0001" iyz="0.0" izz="0.0001"/>
    </inertial>
    <visual>
      <origin rpy="1.57 0 0" xyz="0 -0.15 0.0075"/>
      <geometry>
        <cylinder length="0.015" radius="0.0075"/>
      </geometry>
      <material name="black">
        <color rgba="0 0 0 1"/>
      </material>
    </visual>
    <collision>
      <origin rpy="1.57 0 0" xyz="0 -0.15 0.0075"/>
      <geometry>
        <cylinder length="0.015" radius="0.0075"/>
      </geometry>
    </collision>
  </link>
  <joint name="ultrasonidos_5_joint" type="fixed">
    <parent link="ultrasonidos_5_link_fisico"/>
    <child link="ultrasonidos_5_link"/>
    <origin rpy="0 0 -1.57" xyz="0 -0.1575 0.0075"/>
  </joint>
  <link name="ultrasonidos_5_link">

  </link>
  <gazebo reference="ultrasonidos_5_link_fisico">
    <material>myrabot_fer/Black</material>
    <mu1>0.5</mu1>
    <mu2>0.5</mu2>
    <selfCollide>true</selfCollide>
    <turnGravityOff>false</turnGravityOff>
  </gazebo>
  <gazebo reference="ultrasonidos_5_link">
    <sensor name="ultrasonidos_5" type="ray">
      <always_on>true</always_on>
      <update_rate>50</update_rate>
      <pose>0 0 0 0 0 0</pose>
      <visualize>false</visualize>
      <ray>
        <scan>
          <horizontal>
            <samples>10</samples>
            <resolution>1</resolution>
            <min_angle>-0.28</min_angle>
            <max_angle>0.28</max_angle>
          </horizontal>
          <!--vertical>
              <samples>${ray_count}</samples>
              <resolution>1</resolution>
              <min_angle>-${field_of_view/2}</min_angle>
              <max_angle> ${field_of_view/2}</max_angle>
            </vertical-->
        </scan>
        <range>
          <min>0</min>
          <max>7</max>
          <resolution>0.01</resolution>
        </range>
      </ray>
      <plugin filename="libgazebo_ros_range.so" name="gazebo_ros_ultrasonidos_5_controller">
        <gaussianNoise>0.005</gaussianNoise>
        <alwaysOn>true</alwaysOn>
        <updateRate>50</updateRate>
        <radiation>ultrasound</radiation>
        <fov>32</fov>
        <topicName>ultrasonidos_5</topicName>
        <frameId>ultrasonidos_5_link</frameId>
      </plugin>
    </sensor>
  </gazebo>
</robot>
